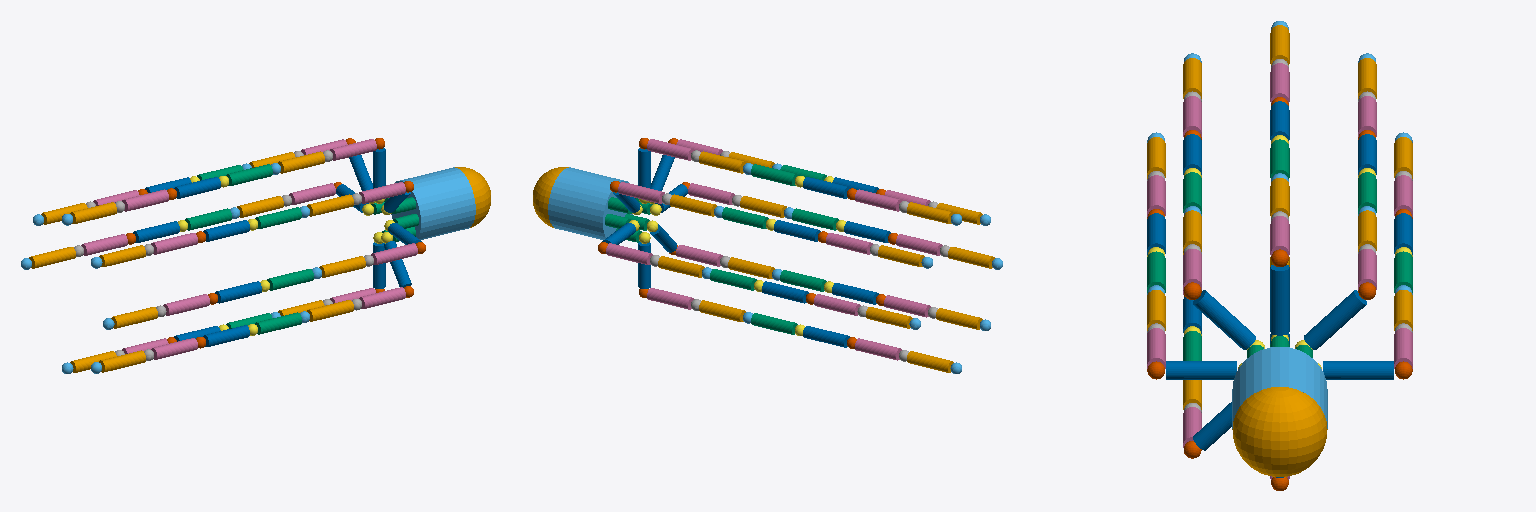
--- Render facts (derived) ---
3 views of the same robot in one strip: view 1: azimuth 30°, elevation 25°; view 2: azimuth 150°, elevation 25°; view 3: azimuth 270°, elevation 25° (orthographic).
Robot: sentinel/octopus_7_arms — 114 links, 113 joints (42 revolute, 71 fixed); root link eye; default pose: all joints at 0.
Links seen in each view (by area): view 1: head, eye, branch_06_cylinder, branch_32_cylinder, branch_03_cylinder, branch_22_cylinder, branch_25_cylinder, branch_35_cylinder, branch_43_cylinder, branch_44_cylinder, branch_53_cylinder, branch_56_cylinder (+20 smaller); view 2: head, eye, branch_12_cylinder, branch_46_cylinder, branch_55_cylinder, branch_03_cylinder, branch_04_cylinder, branch_15_cylinder, branch_22_cylinder, branch_25_cylinder, branch_43_cylinder, branch_42_cylinder (+26 smaller); view 3: eye, head, branch_20_cylinder, branch_10_cylinder, branch_30_cylinder, branch_00_cylinder, branch_40_cylinder, branch_50_cylinder, branch_25_cylinder, branch_21_cylinder, branch_26_cylinder, branch_23_cylinder (+28 smaller).
Link boxes in pixels (bbox=[...]): head: bbox=[391, 167, 475, 239]; eye: bbox=[455, 167, 490, 227]; branch_06_cylinder: bbox=[29, 247, 75, 268]; branch_32_cylinder: bbox=[307, 194, 353, 216]; branch_03_cylinder: bbox=[185, 208, 231, 230]; branch_22_cylinder: bbox=[278, 151, 324, 173]; branch_25_cylinder: bbox=[122, 189, 168, 211]; branch_35_cylinder: bbox=[151, 233, 197, 254]; branch_43_cylinder: bbox=[267, 269, 313, 290]; branch_44_cylinder: bbox=[215, 281, 261, 303]; branch_53_cylinder: bbox=[255, 312, 301, 334]; branch_56_cylinder: bbox=[99, 350, 145, 372]; head: bbox=[548, 167, 632, 239]; eye: bbox=[533, 167, 568, 227]; branch_12_cylinder: bbox=[670, 194, 716, 216]; branch_46_cylinder: bbox=[948, 247, 994, 268]; branch_55_cylinder: bbox=[884, 295, 930, 317]; branch_03_cylinder: bbox=[710, 269, 756, 290]; branch_04_cylinder: bbox=[762, 281, 808, 303]; branch_15_cylinder: bbox=[826, 233, 872, 254]; branch_22_cylinder: bbox=[699, 151, 745, 173]; branch_25_cylinder: bbox=[855, 189, 901, 211]; branch_43_cylinder: bbox=[792, 208, 838, 230]; branch_42_cylinder: bbox=[740, 196, 786, 217]; eye: bbox=[1232, 387, 1327, 476]; head: bbox=[1232, 347, 1327, 428]; branch_20_cylinder: bbox=[1270, 265, 1289, 335]; branch_10_cylinder: bbox=[1304, 290, 1366, 349]; branch_30_cylinder: bbox=[1193, 290, 1255, 349]; branch_00_cylinder: bbox=[1323, 361, 1393, 379]; branch_40_cylinder: bbox=[1166, 361, 1236, 379]; branch_50_cylinder: bbox=[1193, 402, 1231, 450]; branch_25_cylinder: bbox=[1270, 63, 1289, 102]; branch_21_cylinder: bbox=[1270, 216, 1289, 255]; branch_26_cylinder: bbox=[1270, 25, 1289, 64]; branch_23_cylinder: bbox=[1270, 139, 1289, 178].
Size in the robot's own frame: 1.55 by 0.56 by 0.5601 metres.
Geometry: primitives only (box / cylinder / sphere), no mesh files.

robot.urdf — sentinel/octopus_7_arms:
<?xml version="1.0"?>
<robot name="sentinel/octopus_7_arms">
<link name="eye">
  <inertial>
   <mass value="1"/>
   <inertia ixx="0.004000000000000001" ixy="0" ixz="0" iyy="0.004000000000000001" iyz="0" izz="0.004000000000000001"/>
  </inertial>
  <collision>
    <origin rpy="0 0 0" xyz="0 0 0"/>
    <geometry>
      <sphere radius="0.1"/>
    </geometry>
  </collision>
  <visual>
    <origin rpy="0 0 0" xyz="0 0 0"/>
    <geometry>
      <sphere radius="0.1"/>
    </geometry>
  </visual>
</link>

 <link name="head">
  <inertial>
    <mass value="1"/>
    <inertia ixx="0.0058333333333333345" ixy="0" ixz="0" iyy="0.0058333333333333345" iyz="0" izz="0.0025000000000000005"/>
  </inertial>
  <visual>
    <origin rpy="0 1.57 0" xyz="-0.1 0 0"/>
    <geometry>
      <cylinder length="0.2" radius="0.1"/>
    </geometry>
  </visual>
  <collision>
    <origin rpy="0 1.57 0" xyz="-0.1 0 0"/>
    <geometry>
      <cylinder length="0.2" radius="0.1"/>
    </geometry>
  </collision>
 </link>

<joint name="joint_fixed_eye_head" type="fixed">
  <origin rpy="0 0 0" xyz="0 0 0"/>
  <parent link="eye"/>
  <child link="head"/>
</joint>

<!--############################################################################
branch_00
##############################################################################-->
 <link name="branch_00_cylinder_stub">
  <inertial>
    <mass value="1"/>
    <inertia ixx="0.0005687499999999999" ixy="0" ixz="0" iyy="0.0005687499999999999" iyz="0" izz="0.0001"/>
  </inertial>
  <visual>
    <origin rpy="0 1.57 0" xyz="-0.0375 0 0"/>
    <geometry>
      <cylinder length="0.075" radius="0.02"/>
    </geometry>
  </visual>
  <collision>
    <origin rpy="0 1.57 0" xyz="-0.0375 0 0"/>
    <geometry>
      <cylinder length="0.075" radius="0.02"/>
    </geometry>
  </collision>
 </link>

<joint name="joint_fixed_head_branch_00_cylinder_stub" type="fixed">
  <origin rpy="0 0 0" xyz="-0.2 0.06999999999999999 0.0"/>
  <parent link="head"/>
  <child link="branch_00_cylinder_stub"/>
</joint>

<link name="branch_00_sphere_stub">
  <inertial>
   <mass value="1"/>
   <inertia ixx="0.00014439999999999999" ixy="0" ixz="0" iyy="0.00014439999999999999" iyz="0" izz="0.00014439999999999999"/>
  </inertial>
  <collision>
    <origin rpy="0 0 0" xyz="-0.095 0 0"/>
    <geometry>
      <sphere radius="0.019"/>
    </geometry>
  </collision>
  <visual>
    <origin rpy="0 0 0" xyz="-0.095 0 0"/>
    <geometry>
      <sphere radius="0.019"/>
    </geometry>
  </visual>
</link>

<joint name="joint_fixed_branch_00_cylinder_stub_branch_00_sphere_stub" type="fixed">
  <origin rpy="0 0 0" xyz="0 0 0"/>
  <parent link="branch_00_cylinder_stub"/>
  <child link="branch_00_sphere_stub"/>
</joint>

 <link name="branch_00_cylinder">
  <inertial>
    <mass value="1"/>
    <inertia ixx="0.0019749999999999998" ixy="0" ixz="0" iyy="0.0019749999999999998" iyz="0" izz="0.0001"/>
  </inertial>
  <visual>
    <origin rpy="0 1.5707963267948966 1.57" xyz="-0.095 0.095 0.0"/>
    <geometry>
      <cylinder length="0.15" radius="0.02"/>
    </geometry>
  </visual>
  <collision>
    <origin rpy="0 1.5707963267948966 1.57" xyz="-0.095 0.095 0.0"/>
    <geometry>
      <cylinder length="0.15" radius="0.02"/>
    </geometry>
  </collision>
 </link>

<joint name="joint_fixed_branch_00_sphere_stub_branch_00_cylinder" type="fixed">
  <origin rpy="0 0 0" xyz="0 0 0"/>
  <parent link="branch_00_sphere_stub"/>
  <child link="branch_00_cylinder"/>
</joint>

<link name="branch_00">
  <inertial>
   <mass value="1"/>
   <inertia ixx="0.00014439999999999999" ixy="0" ixz="0" iyy="0.00014439999999999999" iyz="0" izz="0.00014439999999999999"/>
  </inertial>
  <collision>
    <origin rpy="0 0 0" xyz="0 0 0"/>
    <geometry>
      <sphere radius="0.019"/>
    </geometry>
  </collision>
  <visual>
    <origin rpy="0 0 0" xyz="0 0 0"/>
    <geometry>
      <sphere radius="0.019"/>
    </geometry>
  </visual>
</link>

<joint name="joint_fixed_branch_00_cylinder_branch_00" type="fixed">
  <origin rpy="0 0 0" xyz="-0.095 0.19 0.0"/>
  <parent link="branch_00_cylinder"/>
  <child link="branch_00"/>
</joint>

<!--############################################################################
branch_01
##############################################################################-->
 <link name="branch_01_cylinder">
  <inertial>
    <mass value="1"/>
    <inertia ixx="0.0019749999999999998" ixy="0" ixz="0" iyy="0.0019749999999999998" iyz="0" izz="0.0001"/>
  </inertial>
  <visual>
    <origin rpy="0 1.57 0" xyz="-0.095 0 0"/>
    <geometry>
      <cylinder length="0.15" radius="0.02"/>
    </geometry>
  </visual>
  <collision>
    <origin rpy="0 1.57 0" xyz="-0.095 0 0"/>
    <geometry>
      <cylinder length="0.15" radius="0.02"/>
    </geometry>
  </collision>
 </link>

<joint name="joint_revolute_branch_00_branch_01_cylinder_Z" type="revolute">
  <origin rpy="0 0 0" xyz="0 0 0"/>
  <parent link="branch_00"/>
  <child link="branch_01_cylinder"/>
  <axis xyz="0 0.0 -1.0"/>
  <dynamics damping="0.01" friction="0.5"/>
  <limit lower="-1.5707963267948966" upper="1.5707963267948966" effort="0.01" velocity="100"/>
</joint>

<link name="branch_01">
  <inertial>
   <mass value="1"/>
   <inertia ixx="0.00014439999999999999" ixy="0" ixz="0" iyy="0.00014439999999999999" iyz="0" izz="0.00014439999999999999"/>
  </inertial>
  <collision>
    <origin rpy="0 0 0" xyz="0 0 0"/>
    <geometry>
      <sphere radius="0.019"/>
    </geometry>
  </collision>
  <visual>
    <origin rpy="0 0 0" xyz="0 0 0"/>
    <geometry>
      <sphere radius="0.019"/>
    </geometry>
  </visual>
</link>

<joint name="joint_fixed_branch_01_cylinder_branch_01" type="fixed">
  <origin rpy="0 0 0" xyz="-0.19 0 0"/>
  <parent link="branch_01_cylinder"/>
  <child link="branch_01"/>
</joint>

<!--############################################################################
branch_02
##############################################################################-->
 <link name="branch_02_cylinder">
  <inertial>
    <mass value="1"/>
    <inertia ixx="0.0019749999999999998" ixy="0" ixz="0" iyy="0.0019749999999999998" iyz="0" izz="0.0001"/>
  </inertial>
  <visual>
    <origin rpy="0 1.57 0" xyz="-0.095 0 0"/>
    <geometry>
      <cylinder length="0.15" radius="0.02"/>
    </geometry>
  </visual>
  <collision>
    <origin rpy="0 1.57 0" xyz="-0.095 0 0"/>
    <geometry>
      <cylinder length="0.15" radius="0.02"/>
    </geometry>
  </collision>
 </link>

<joint name="joint_revolute_branch_01_branch_02_cylinder_Z" type="revolute">
  <origin rpy="0 0 0" xyz="0 0 0"/>
  <parent link="branch_01"/>
  <child link="branch_02_cylinder"/>
  <axis xyz="0 0.0 -1.0"/>
  <dynamics damping="0.01" friction="0.5"/>
  <limit lower="-1.5707963267948966" upper="1.5707963267948966" effort="0.01" velocity="100"/>
</joint>

<link name="branch_02">
  <inertial>
   <mass value="1"/>
   <inertia ixx="0.00014439999999999999" ixy="0" ixz="0" iyy="0.00014439999999999999" iyz="0" izz="0.00014439999999999999"/>
  </inertial>
  <collision>
    <origin rpy="0 0 0" xyz="0 0 0"/>
    <geometry>
      <sphere radius="0.019"/>
    </geometry>
  </collision>
  <visual>
    <origin rpy="0 0 0" xyz="0 0 0"/>
    <geometry>
      <sphere radius="0.019"/>
    </geometry>
  </visual>
</link>

<joint name="joint_fixed_branch_02_cylinder_branch_02" type="fixed">
  <origin rpy="0 0 0" xyz="-0.19 0 0"/>
  <parent link="branch_02_cylinder"/>
  <child link="branch_02"/>
</joint>

<!--############################################################################
branch_03
##############################################################################-->
 <link name="branch_03_cylinder">
  <inertial>
    <mass value="1"/>
    <inertia ixx="0.0019749999999999998" ixy="0" ixz="0" iyy="0.0019749999999999998" iyz="0" izz="0.0001"/>
  </inertial>
  <visual>
    <origin rpy="0 1.57 0" xyz="-0.095 0 0"/>
    <geometry>
      <cylinder length="0.15" radius="0.02"/>
    </geometry>
  </visual>
  <collision>
    <origin rpy="0 1.57 0" xyz="-0.095 0 0"/>
    <geometry>
      <cylinder length="0.15" radius="0.02"/>
    </geometry>
  </collision>
 </link>

<joint name="joint_revolute_branch_02_branch_03_cylinder_Z" type="revolute">
  <origin rpy="0 0 0" xyz="0 0 0"/>
  <parent link="branch_02"/>
  <child link="branch_03_cylinder"/>
  <axis xyz="0 0.0 -1.0"/>
  <dynamics damping="0.01" friction="0.5"/>
  <limit lower="-1.5707963267948966" upper="1.5707963267948966" effort="0.01" velocity="100"/>
</joint>

<link name="branch_03">
  <inertial>
   <mass value="1"/>
   <inertia ixx="0.00014439999999999999" ixy="0" ixz="0" iyy="0.00014439999999999999" iyz="0" izz="0.00014439999999999999"/>
  </inertial>
  <collision>
    <origin rpy="0 0 0" xyz="0 0 0"/>
    <geometry>
      <sphere radius="0.019"/>
    </geometry>
  </collision>
  <visual>
    <origin rpy="0 0 0" xyz="0 0 0"/>
    <geometry>
      <sphere radius="0.019"/>
    </geometry>
  </visual>
</link>

<joint name="joint_fixed_branch_03_cylinder_branch_03" type="fixed">
  <origin rpy="0 0 0" xyz="-0.19 0 0"/>
  <parent link="branch_03_cylinder"/>
  <child link="branch_03"/>
</joint>

<!--############################################################################
branch_04
##############################################################################-->
 <link name="branch_04_cylinder">
  <inertial>
    <mass value="1"/>
    <inertia ixx="0.0019749999999999998" ixy="0" ixz="0" iyy="0.0019749999999999998" iyz="0" izz="0.0001"/>
  </inertial>
  <visual>
    <origin rpy="0 1.57 0" xyz="-0.095 0 0"/>
    <geometry>
      <cylinder length="0.15" radius="0.02"/>
    </geometry>
  </visual>
  <collision>
    <origin rpy="0 1.57 0" xyz="-0.095 0 0"/>
    <geometry>
      <cylinder length="0.15" radius="0.02"/>
    </geometry>
  </collision>
 </link>

<joint name="joint_revolute_branch_03_branch_04_cylinder_Z" type="revolute">
  <origin rpy="0 0 0" xyz="0 0 0"/>
  <parent link="branch_03"/>
  <child link="branch_04_cylinder"/>
  <axis xyz="0 0.0 -1.0"/>
  <dynamics damping="0.01" friction="0.5"/>
  <limit lower="-1.5707963267948966" upper="1.5707963267948966" effort="0.01" velocity="100"/>
</joint>

<link name="branch_04">
  <inertial>
   <mass value="1"/>
   <inertia ixx="0.00014439999999999999" ixy="0" ixz="0" iyy="0.00014439999999999999" iyz="0" izz="0.00014439999999999999"/>
  </inertial>
  <collision>
    <origin rpy="0 0 0" xyz="0 0 0"/>
    <geometry>
      <sphere radius="0.019"/>
    </geometry>
  </collision>
  <visual>
    <origin rpy="0 0 0" xyz="0 0 0"/>
    <geometry>
      <sphere radius="0.019"/>
    </geometry>
  </visual>
</link>

<joint name="joint_fixed_branch_04_cylinder_branch_04" type="fixed">
  <origin rpy="0 0 0" xyz="-0.19 0 0"/>
  <parent link="branch_04_cylinder"/>
  <child link="branch_04"/>
</joint>

<!--############################################################################
branch_05
##############################################################################-->
 <link name="branch_05_cylinder">
  <inertial>
    <mass value="1"/>
    <inertia ixx="0.0019749999999999998" ixy="0" ixz="0" iyy="0.0019749999999999998" iyz="0" izz="0.0001"/>
  </inertial>
  <visual>
    <origin rpy="0 1.57 0" xyz="-0.095 0 0"/>
    <geometry>
      <cylinder length="0.15" radius="0.02"/>
    </geometry>
  </visual>
  <collision>
    <origin rpy="0 1.57 0" xyz="-0.095 0 0"/>
    <geometry>
      <cylinder length="0.15" radius="0.02"/>
    </geometry>
  </collision>
 </link>

<joint name="joint_revolute_branch_04_branch_05_cylinder_Z" type="revolute">
  <origin rpy="0 0 0" xyz="0 0 0"/>
  <parent link="branch_04"/>
  <child link="branch_05_cylinder"/>
  <axis xyz="0 0.0 -1.0"/>
  <dynamics damping="0.01" friction="0.5"/>
  <limit lower="-1.5707963267948966" upper="1.5707963267948966" effort="0.01" velocity="100"/>
</joint>

<link name="branch_05">
  <inertial>
   <mass value="1"/>
   <inertia ixx="0.00014439999999999999" ixy="0" ixz="0" iyy="0.00014439999999999999" iyz="0" izz="0.00014439999999999999"/>
  </inertial>
  <collision>
    <origin rpy="0 0 0" xyz="0 0 0"/>
    <geometry>
      <sphere radius="0.019"/>
    </geometry>
  </collision>
  <visual>
    <origin rpy="0 0 0" xyz="0 0 0"/>
    <geometry>
      <sphere radius="0.019"/>
    </geometry>
  </visual>
</link>

<joint name="joint_fixed_branch_05_cylinder_branch_05" type="fixed">
  <origin rpy="0 0 0" xyz="-0.19 0 0"/>
  <parent link="branch_05_cylinder"/>
  <child link="branch_05"/>
</joint>

<!--############################################################################
branch_06
##############################################################################-->
 <link name="branch_06_cylinder">
  <inertial>
    <mass value="1"/>
    <inertia ixx="0.0019749999999999998" ixy="0" ixz="0" iyy="0.0019749999999999998" iyz="0" izz="0.0001"/>
  </inertial>
  <visual>
    <origin rpy="0 1.57 0" xyz="-0.095 0 0"/>
    <geometry>
      <cylinder length="0.15" radius="0.02"/>
    </geometry>
  </visual>
  <collision>
    <origin rpy="0 1.57 0" xyz="-0.095 0 0"/>
    <geometry>
      <cylinder length="0.15" radius="0.02"/>
    </geometry>
  </collision>
 </link>

<joint name="joint_revolute_branch_05_branch_06_cylinder_Z" type="revolute">
  <origin rpy="0 0 0" xyz="0 0 0"/>
  <parent link="branch_05"/>
  <child link="branch_06_cylinder"/>
  <axis xyz="0 0.0 -1.0"/>
  <dynamics damping="0.01" friction="0.5"/>
  <limit lower="-1.5707963267948966" upper="1.5707963267948966" effort="0.01" velocity="100"/>
</joint>

<link name="branch_06">
  <inertial>
   <mass value="1"/>
   <inertia ixx="0.00014439999999999999" ixy="0" ixz="0" iyy="0.00014439999999999999" iyz="0" izz="0.00014439999999999999"/>
  </inertial>
  <collision>
    <origin rpy="0 0 0" xyz="0 0 0"/>
    <geometry>
      <sphere radius="0.019"/>
    </geometry>
  </collision>
  <visual>
    <origin rpy="0 0 0" xyz="0 0 0"/>
    <geometry>
      <sphere radius="0.019"/>
    </geometry>
  </visual>
</link>

<joint name="joint_fixed_branch_06_cylinder_branch_06" type="fixed">
  <origin rpy="0 0 0" xyz="-0.19 0 0"/>
  <parent link="branch_06_cylinder"/>
  <child link="branch_06"/>
</joint>

<!--############################################################################
branch_10
##############################################################################-->
 <link name="branch_10_cylinder_stub">
  <inertial>
    <mass value="1"/>
    <inertia ixx="0.0005687499999999999" ixy="0" ixz="0" iyy="0.0005687499999999999" iyz="0" izz="0.0001"/>
  </inertial>
  <visual>
    <origin rpy="0 1.57 0" xyz="-0.0375 0 0"/>
    <geometry>
      <cylinder length="0.075" radius="0.02"/>
    </geometry>
  </visual>
  <collision>
    <origin rpy="0 1.57 0" xyz="-0.0375 0 0"/>
    <geometry>
      <cylinder length="0.075" radius="0.02"/>
    </geometry>
  </collision>
 </link>

<joint name="joint_fixed_head_branch_10_cylinder_stub" type="fixed">
  <origin rpy="0 0 0" xyz="-0.2 0.049497474683058325 0.04949747468305832"/>
  <parent link="head"/>
  <child link="branch_10_cylinder_stub"/>
</joint>

<link name="branch_10_sphere_stub">
  <inertial>
   <mass value="1"/>
   <inertia ixx="0.00014439999999999999" ixy="0" ixz="0" iyy="0.00014439999999999999" iyz="0" izz="0.00014439999999999999"/>
  </inertial>
  <collision>
    <origin rpy="0 0 0" xyz="-0.095 0 0"/>
    <geometry>
      <sphere radius="0.019"/>
    </geometry>
  </collision>
  <visual>
    <origin rpy="0 0 0" xyz="-0.095 0 0"/>
    <geometry>
      <sphere radius="0.019"/>
    </geometry>
  </visual>
</link>

<joint name="joint_fixed_branch_10_cylinder_stub_branch_10_sphere_stub" type="fixed">
  <origin rpy="0 0 0" xyz="0 0 0"/>
  <parent link="branch_10_cylinder_stub"/>
  <child link="branch_10_sphere_stub"/>
</joint>

 <link name="branch_10_cylinder">
  <inertial>
    <mass value="1"/>
    <inertia ixx="0.0019749999999999998" ixy="0" ixz="0" iyy="0.0019749999999999998" iyz="0" izz="0.0001"/>
  </inertial>
  <visual>
    <origin rpy="0 0.7853981633974484 1.57" xyz="-0.095 0.06717514421272201 0.06717514421272201"/>
    <geometry>
      <cylinder length="0.15" radius="0.02"/>
    </geometry>
  </visual>
  <collision>
    <origin rpy="0 0.7853981633974484 1.57" xyz="-0.095 0.06717514421272201 0.06717514421272201"/>
    <geometry>
      <cylinder length="0.15" radius="0.02"/>
    </geometry>
  </collision>
 </link>

<joint name="joint_fixed_branch_10_sphere_stub_branch_10_cylinder" type="fixed">
  <origin rpy="0 0 0" xyz="0 0 0"/>
  <parent link="branch_10_sphere_stub"/>
  <child link="branch_10_cylinder"/>
</joint>

<link name="branch_10">
  <inertial>
   <mass value="1"/>
   <inertia ixx="0.00014439999999999999" ixy="0" ixz="0" iyy="0.00014439999999999999" iyz="0" izz="0.00014439999999999999"/>
  </inertial>
  <collision>
    <origin rpy="0 0 0" xyz="0 0 0"/>
    <geometry>
      <sphere radius="0.019"/>
    </geometry>
  </collision>
  <visual>
    <origin rpy="0 0 0" xyz="0 0 0"/>
    <geometry>
      <sphere radius="0.019"/>
    </geometry>
  </visual>
</link>

<joint name="joint_fixed_branch_10_cylinder_branch_10" type="fixed">
  <origin rpy="0 0 0" xyz="-0.095 0.13435028842544403 0.13435028842544403"/>
  <parent link="branch_10_cylinder"/>
  <child link="branch_10"/>
</joint>

<!--############################################################################
branch_11
##############################################################################-->
 <link name="branch_11_cylinder">
  <inertial>
    <mass value="1"/>
    <inertia ixx="0.0019749999999999998" ixy="0" ixz="0" iyy="0.0019749999999999998" iyz="0" izz="0.0001"/>
  </inertial>
  <visual>
    <origin rpy="0 1.57 0" xyz="-0.095 0 0"/>
    <geometry>
      <cylinder length="0.15" radius="0.02"/>
    </geometry>
  </visual>
  <collision>
    <origin rpy="0 1.57 0" xyz="-0.095 0 0"/>
    <geometry>
      <cylinder length="0.15" radius="0.02"/>
    </geometry>
  </collision>
 </link>

<joint name="joint_revolute_branch_10_branch_11_cylinder_Z" type="revolute">
  <origin rpy="0 0 0" xyz="0 0 0"/>
  <parent link="branch_10"/>
  <child link="branch_11_cylinder"/>
  <axis xyz="0 0.7071067811865475 -0.7071067811865476"/>
  <dynamics damping="0.01" friction="0.5"/>
  <limit lower="-1.5707963267948966" upper="1.5707963267948966" effort="0.01" velocity="100"/>
</joint>

<link name="branch_11">
  <inertial>
   <mass value="1"/>
   <inertia ixx="0.00014439999999999999" ixy="0" ixz="0" iyy="0.00014439999999999999" iyz="0" izz="0.00014439999999999999"/>
  </inertial>
  <collision>
    <origin rpy="0 0 0" xyz="0 0 0"/>
    <geometry>
      <sphere radius="0.019"/>
    </geometry>
  </collision>
  <visual>
    <origin rpy="0 0 0" xyz="0 0 0"/>
    <geometry>
      <sphere radius="0.019"/>
    </geometry>
  </visual>
</link>

<joint name="joint_fixed_branch_11_cylinder_branch_11" type="fixed">
  <origin rpy="0 0 0" xyz="-0.19 0 0"/>
  <parent link="branch_11_cylinder"/>
  <child link="branch_11"/>
</joint>

<!--############################################################################
branch_12
##############################################################################-->
 <link name="branch_12_cylinder">
  <inertial>
    <mass value="1"/>
    <inertia ixx="0.0019749999999999998" ixy="0" ixz="0" iyy="0.0019749999999999998" iyz="0" izz="0.0001"/>
  </inertial>
  <visual>
    <origin rpy="0 1.57 0" xyz="-0.095 0 0"/>
    <geometry>
      <cylinder length="0.15" radius="0.02"/>
    </geometry>
  </visual>
  <collision>
    <origin rpy="0 1.57 0" xyz="-0.095 0 0"/>
    <geometry>
      <cylinder length="0.15" radius="0.02"/>
    </geometry>
  </collision>
 </link>

<joint name="joint_revolute_branch_11_branch_12_cylinder_Z" type="revolute">
  <origin rpy="0 0 0" xyz="0 0 0"/>
  <parent link="branch_11"/>
  <child link="branch_12_cylinder"/>
  <axis xyz="0 0.7071067811865475 -0.7071067811865476"/>
  <dynamics damping="0.01" friction="0.5"/>
  <limit lower="-1.5707963267948966" upper="1.5707963267948966" effort="0.01" velocity="100"/>
</joint>

<link name="branch_12">
  <inertial>
   <mass value="1"/>
   <inertia ixx="0.00014439999999999999" ixy="0" ixz="0" iyy="0.00014439999999999999" iyz="0" izz="0.00014439999999999999"/>
  </inertial>
  <collision>
    <origin rpy="0 0 0" xyz="0 0 0"/>
    <geometry>
      <sphere radius="0.019"/>
    </geometry>
  </collision>
  <visual>
    <origin rpy="0 0 0" xyz="0 0 0"/>
    <geometry>
      <sphere radius="0.019"/>
    </geometry>
  </visual>
</link>

<joint name="joint_fixed_branch_12_cylinder_branch_12" type="fixed">
  <origin rpy="0 0 0" xyz="-0.19 0 0"/>
  <parent link="branch_12_cylinder"/>
  <child link="branch_12"/>
</joint>

<!--############################################################################
branch_13
##############################################################################-->
 <link name="branch_13_cylinder">
  <inertial>
    <mass value="1"/>
    <inertia ixx="0.0019749999999999998" ixy="0" ixz="0" iyy="0.0019749999999999998" iyz="0" izz="0.0001"/>
  </inertial>
  <visual>
    <origin rpy="0 1.57 0" xyz="-0.095 0 0"/>
    <geometry>
      <cylinder length="0.15" radius="0.02"/>
    </geometry>
  </visual>
  <collision>
    <origin rpy="0 1.57 0" xyz="-0.095 0 0"/>
    <geometry>
      <cylinder length="0.15" radius="0.02"/>
    </geometry>
  </collision>
 </link>

<joint name="joint_revolute_branch_12_branch_13_cylinder_Z" type="revolute">
  <origin rpy="0 0 0" xyz="0 0 0"/>
  <parent link="branch_12"/>
  <child link="branch_13_cylinder"/>
  <axis xyz="0 0.7071067811865475 -0.7071067811865476"/>
  <dynamics damping="0.01" friction="0.5"/>
  <limit lower="-1.5707963267948966" upper="1.5707963267948966" effort="0.01" velocity="100"/>
</joint>

<link name="branch_13">
  <inertial>
   <mass value="1"/>
   <inertia ixx="0.00014439999999999999" ixy="0" ixz="0" iyy="0.00014439999999999999" iyz="0" izz="0.00014439999999999999"/>
  </inertial>
  <collision>
    <origin rpy="0 0 0" xyz="0 0 0"/>
    <geometry>
      <sphere radius="0.019"/>
    </geometry>
  </collision>
  <visual>
    <origin rpy="0 0 0" xyz="0 0 0"/>
    <geometry>
      <sphere radius="0.019"/>
    </geometry>
  </visual>
</link>

<joint name="joint_fixed_branch_13_cylinder_branch_13" type="fixed">
  <origin rpy="0 0 0" xyz="-0.19 0 0"/>
  <parent link="branch_13_cylinder"/>
  <child link="branch_13"/>
</joint>

<!--############################################################################
branch_14
##############################################################################-->
 <link name="branch_14_cylinder">
  <inertial>
    <mass value="1"/>
    <inertia ixx="0.0019749999999999998" ixy="0" ixz="0" iyy="0.0019749999999999998" iyz="0" izz="0.0001"/>
  </inertial>
  <visual>
    <origin rpy="0 1.57 0" xyz="-0.095 0 0"/>
    <geometry>
      <cylinder length="0.15" radius="0.02"/>
    </geometry>
  </visual>
  <collision>
    <origin rpy="0 1.57 0" xyz="-0.095 0 0"/>
    <geometry>
      <cylinder length="0.15" radius="0.02"/>
    </geometry>
  </collision>
 </link>

<joint name="joint_revolute_branch_13_branch_14_cylinder_Z" type="revolute">
  <origin rpy="0 0 0" xyz="0 0 0"/>
  <parent link="branch_13"/>
  <child link="branch_14_cylinder"/>
  <axis xyz="0 0.7071067811865475 -0.7071067811865476"/>
  <dynamics damping="0.01" friction="0.5"/>
  <limit lower="-1.5707963267948966" upper="1.5707963267948966" effort="0.01" velocity="100"/>
</joint>

<link name="branch_14">
  <inertial>
   <mass value="1"/>
   <inertia ixx="0.00014439999999999999" ixy="0" ixz="0" iyy="0.00014439999999999999" iyz="0" izz="0.00014439999999999999"/>
  </inertial>
  <collision>
    <origin rpy="0 0 0" xyz="0 0 0"/>
    <geometry>
      <sphere radius="0.019"/>
    </geometry>
  </collision>
  <visual>
    <origin rpy="0 0 0" xyz="0 0 0"/>
    <geometry>
      <sphere radius="0.019"/>
    </geometry>
  </visual>
</link>

<joint name="joint_fixed_branch_14_cylinder_branch_14" type="fixed">
  <origin rpy="0 0 0" xyz="-0.19 0 0"/>
  <parent link="branch_14_cylinder"/>
  <child link="branch_14"/>
</joint>

<!--############################################################################
branch_15
##############################################################################-->
 <link name="branch_15_cylinder">
  <inertial>
    <mass value="1"/>
    <inertia ixx="0.0019749999999999998" ixy="0" ixz="0" iyy="0.0019749999999999998" iyz="0" izz="0.0001"/>
  </inertial>
  <visual>
    <origin rpy="0 1.57 0" xyz="-0.095 0 0"/>
    <geometry>
      <cylinder length="0.15" radius="0.02"/>
    </geometry>
  </visual>
  <collision>
    <origin rpy="0 1.57 0" xyz="-0.095 0 0"/>
    <geometry>
      <cylinder length="0.15" radius="0.02"/>
    </geometry>
  </collision>
 </link>

<joint name="joint_revolute_branch_14_branch_15_cylinder_Z" type="revolute">
  <origin rpy="0 0 0" xyz="0 0 0"/>
  <parent link="branch_14"/>
  <child link="branch_15_cylinder"/>
  <axis xyz="0 0.7071067811865475 -0.7071067811865476"/>
  <dynamics damping="0.01" friction="0.5"/>
  <limit lower="-1.5707963267948966" upper="1.5707963267948966" effort="0.01" velocity="100"/>
</joint>

<link name="branch_15">
  <inertial>
   <mass value="1"/>
   <inertia ixx="0.00014439999999999999" ixy="0" ixz="0" iyy="0.00014439999999999999" iyz="0" izz="0.00014439999999999999"/>
  </inertial>
  <collision>
    <origin rpy="0 0 0" xyz="0 0 0"/>
    <geometry>
      <sphere radius="0.019"/>
    </geometry>
  </collision>
  <visual>
    <origin rpy="0 0 0" xyz="0 0 0"/>
    <geometry>
      <sphere radius="0.019"/>
    </geometry>
  </visual>
</link>

<joint name="joint_fixed_branch_15_cylinder_branch_15" type="fixed">
  <origin rpy="0 0 0" xyz="-0.19 0 0"/>
  <parent link="branch_15_cylinder"/>
  <child link="branch_15"/>
</joint>

<!--############################################################################
branch_16
##############################################################################-->
 <link name="branch_16_cylinder">
  <inertial>
    <mass value="1"/>
    <inertia ixx="0.0019749999999999998" ixy="0" ixz="0" iyy="0.0019749999999999998" iyz="0" izz="0.0001"/>
  </inertial>
  <visual>
    <origin rpy="0 1.57 0" xyz="-0.095 0 0"/>
    <geometry>
      <cylinder length="0.15" radius="0.02"/>
    </geometry>
  </visual>
  <collision>
    <origin rpy="0 1.57 0" xyz="-0.095 0 0"/>
    <geometry>
      <cylinder length="0.15" radius="0.02"/>
    </geometry>
  </collision>
 </link>

<joint name="joint_revolute_branch_15_branch_16_cylinder_Z" type="revolute">
  <origin rpy="0 0 0" xyz="0 0 0"/>
  <parent link="branch_15"/>
  <child link="branch_16_cylinder"/>
  <axis xyz="0 0.7071067811865475 -0.7071067811865476"/>
  <dynamics damping="0.01" friction="0.5"/>
  <limit lower="-1.5707963267948966" upper="1.5707963267948966" effort="0.01" velocity="100"/>
</joint>

<link name="branch_16">
  <inertial>
   <mass value="1"/>
   <inertia ixx="0.00014439999999999999" ixy="0" ixz="0" iyy="0.00014439999999999999" iyz="0" izz="0.00014439999999999999"/>
  </inertial>
  <collision>
    <origin rpy="0 0 0" xyz="0 0 0"/>
    <geometry>
      <sphere radius="0.019"/>
    </geometry>
  </collision>
  <visual>
    <origin rpy="0 0 0" xyz="0 0 0"/>
    <geometry>
      <sphere radius="0.019"/>
    </geometry>
  </visual>
</link>

<joint name="joint_fixed_branch_16_cylinder_branch_16" type="fixed">
  <origin rpy="0 0 0" xyz="-0.19 0 0"/>
  <parent link="branch_16_cylinder"/>
  <child link="branch_16"/>
</joint>

<!--############################################################################
branch_20
##############################################################################-->
 <link name="branch_20_cylinder_stub">
  <inertial>
    <mass value="1"/>
    <inertia ixx="0.0005687499999999999" ixy="0" ixz="0" iyy="0.0005687499999999999" iyz="0" izz="0.0001"/>
  </inertial>
  <visual>
    <origin rpy="0 1.57 0" xyz="-0.0375 0 0"/>
    <geometry>
      <cylinder length="0.075" radius="0.02"/>
    </geometry>
  </visual>
  <collision>
    <origin rpy="0 1.57 0" xyz="-0.0375 0 0"/>
    <geometry>
      <cylinder length="0.075" radius="0.02"/>
    </geometry>
  </collision>
 </link>

<joint name="joint_fixed_head_branch_20_cylinder_stub" type="fixed">
  <origin rpy="0 0 0" xyz="-0.2 4.286263797015736e-18 0.06999999999999999"/>
  <parent link="head"/>
  <child link="branch_20_cylinder_stub"/>
</joint>

<link name="branch_20_sphere_stub">
  <inertial>
   <mass value="1"/>
   <inertia ixx="0.00014439999999999999" ixy="0" ixz="0" iyy="0.00014439999999999999" iyz="0" izz="0.00014439999999999999"/>
  </inertial>
  <collision>
    <origin rpy="0 0 0" xyz="-0.095 0 0"/>
    <geometry>
      <sphere radius="0.019"/>
    </geometry>
  </collision>
  <visual>
    <origin rpy="0 0 0" xyz="-0.095 0 0"/>
    <geometry>
      <sphere radius="0.019"/>
    </geometry>
  </visual>
</link>

<joint name="joint_fixed_branch_20_cylinder_stub_branch_20_sphere_stub" type="fixed">
  <origin rpy="0 0 0" xyz="0 0 0"/>
  <parent link="branch_20_cylinder_stub"/>
  <child link="branch_20_sphere_stub"/>
</joint>

 <link name="branch_20_cylinder">
  <inertial>
    <mass value="1"/>
    <inertia ixx="0.0019749999999999998" ixy="0" ixz="0" iyy="0.0019749999999999998" iyz="0" izz="0.0001"/>
  </inertial>
  <visual>
    <origin rpy="0 6.123233995736766e-17 1.57" xyz="-0.095 5.817072295949928e-18 0.095"/>
    <geometry>
      <cylinder length="0.15" radius="0.02"/>
    </geometry>
  </visual>
  <collision>
    <origin rpy="0 6.123233995736766e-17 1.57" xyz="-0.095 5.817072295949928e-18 0.095"/>
    <geometry>
      <cylinder length="0.15" radius="0.02"/>
    </geometry>
  </collision>
 </link>

<joint name="joint_fixed_branch_20_sphere_stub_branch_20_cylinder" type="fixed">
  <origin rpy="0 0 0" xyz="0 0 0"/>
  <parent link="branch_20_sphere_stub"/>
  <child link="branch_20_cylinder"/>
</joint>

<link name="branch_20">
  <inertial>
   <mass value="1"/>
   <inertia ixx="0.00014439999999999999" ixy="0" ixz="0" iyy="0.00014439999999999999" iyz="0" izz="0.00014439999999999999"/>
  </inertial>
  <collision>
    <origin rpy="0 0 0" xyz="0 0 0"/>
    <geometry>
      <sphere radius="0.019"/>
    </geometry>
  </collision>
  <visual>
    <origin rpy="0 0 0" xyz="0 0 0"/>
    <geometry>
      <sphere radius="0.019"/>
    </geometry>
  </visual>
</link>

<joint name="joint_fixed_branch_20_cylinder_branch_20" type="fixed">
  <origin rpy="0 0 0" xyz="-0.095 1.1634144591899856e-17 0.19"/>
  <parent link="branch_20_cylinder"/>
  <child link="branch_20"/>
</joint>

<!--############################################################################
branch_21
##############################################################################-->
 <link name="branch_21_cylinder">
  <inertial>
    <mass value="1"/>
    <inertia ixx="0.0019749999999999998" ixy="0" ixz="0" iyy="0.0019749999999999998" iyz="0" izz="0.0001"/>
  </inertial>
  <visual>
    <origin rpy="0 1.57 0" xyz="-0.095 0 0"/>
    <geometry>
      <cylinder length="0.15" radius="0.02"/>
    </geometry>
  </visual>
  <collision>
    <origin rpy="0 1.57 0" xyz="-0.095 0 0"/>
    <geometry>
      <cylinder length="0.15" radius="0.02"/>
    </geometry>
  </collision>
 </link>

<joint name="joint_revolute_branch_20_branch_21_cylinder_Z" type="revolute">
  <origin rpy="0 0 0" xyz="0 0 0"/>
  <parent link="branch_20"/>
  <child link="branch_21_cylinder"/>
  <axis xyz="0 1.0 -6.123233995736766e-17"/>
  <dynamics damping="0.01" friction="0.5"/>
  <limit lower="-1.5707963267948966" upper="1.5707963267948966" effort="0.01" velocity="100"/>
</joint>

<link name="branch_21">
  <inertial>
   <mass value="1"/>
   <inertia ixx="0.00014439999999999999" ixy="0" ixz="0" iyy="0.00014439999999999999" iyz="0" izz="0.00014439999999999999"/>
  </inertial>
  <collision>
    <origin rpy="0 0 0" xyz="0 0 0"/>
    <geometry>
      <sphere radius="0.019"/>
    </geometry>
  </collision>
  <visual>
    <origin rpy="0 0 0" xyz="0 0 0"/>
    <geometry>
      <sphere radius="0.019"/>
    </geometry>
  </visual>
</link>

<joint name="joint_fixed_branch_21_cylinder_branch_21" type="fixed">
  <origin rpy="0 0 0" xyz="-0.19 0 0"/>
  <parent link="branch_21_cylinder"/>
  <child link="branch_21"/>
</joint>

<!--############################################################################
branch_22
##############################################################################-->
 <link name="branch_22_cylinder">
  <inertial>
    <mass value="1"/>
    <inertia ixx="0.0019749999999999998" ixy="0" ixz="0" iyy="0.0019749999999999998" iyz="0" izz="0.0001"/>
  </inertial>
  <visual>
    <origin rpy="0 1.57 0" xyz="-0.095 0 0"/>
    <geometry>
      <cylinder length="0.15" radius="0.02"/>
    </geometry>
  </visual>
  <collision>
    <origin rpy="0 1.57 0" xyz="-0.095 0 0"/>
    <geometry>
      <cylinder length="0.15" radius="0.02"/>
    </geometry>
  </collision>
 </link>

<joint name="joint_revolute_branch_21_branch_22_cylinder_Z" type="revolute">
  <origin rpy="0 0 0" xyz="0 0 0"/>
  <parent link="branch_21"/>
  <child link="branch_22_cylinder"/>
  <axis xyz="0 1.0 -6.123233995736766e-17"/>
  <dynamics damping="0.01" friction="0.5"/>
  <limit lower="-1.5707963267948966" upper="1.5707963267948966" effort="0.01" velocity="100"/>
</joint>

<link name="branch_22">
  <inertial>
   <mass value="1"/>
   <inertia ixx="0.00014439999999999999" ixy="0" ixz="0" iyy="0.00014439999999999999" iyz="0" izz="0.00014439999999999999"/>
  </inertial>
  <collision>
    <origin rpy="0 0 0" xyz="0 0 0"/>
    <geometry>
      <sphere radius="0.019"/>
    </geometry>
  </collision>
  <visual>
    <origin rpy="0 0 0" xyz="0 0 0"/>
    <geometry>
      <sphere radius="0.019"/>
    </geometry>
  </visual>
</link>

<joint name="joint_fixed_branch_22_cylinder_branch_22" type="fixed">
  <origin rpy="0 0 0" xyz="-0.19 0 0"/>
  <parent link="branch_22_cylinder"/>
  <child link="branch_22"/>
</joint>

<!--############################################################################
branch_23
##############################################################################-->
 <link name="branch_23_cylinder">
  <inertial>
    <mass value="1"/>
    <inertia ixx="0.0019749999999999998" ixy="0" ixz="0" iyy="0.0019749999999999998" iyz="0" izz="0.0001"/>
  </inertial>
  <visual>
    <origin rpy="0 1.57 0" xyz="-0.095 0 0"/>
    <geometry>
      <cylinder length="0.15" radius="0.02"/>
    </geometry>
  </visual>
  <collision>
    <origin rpy="0 1.57 0" xyz="-0.095 0 0"/>
    <geometry>
      <cylinder length="0.15" radius="0.02"/>
    </geometry>
  </collision>
 </link>

<joint name="joint_revolute_branch_22_branch_23_cylinder_Z" type="revolute">
  <origin rpy="0 0 0" xyz="0 0 0"/>
  <parent link="branch_22"/>
  <child link="branch_23_cylinder"/>
  <axis xyz="0 1.0 -6.123233995736766e-17"/>
  <dynamics damping="0.01" friction="0.5"/>
  <limit lower="-1.5707963267948966" upper="1.5707963267948966" effort="0.01" velocity="100"/>
</joint>

<link name="branch_23">
  <inertial>
   <mass value="1"/>
   <inertia ixx="0.00014439999999999999" ixy="0" ixz="0" iyy="0.00014439999999999999" iyz="0" izz="0.00014439999999999999"/>
  </inertial>
  <collision>
    <origin rpy="0 0 0" xyz="0 0 0"/>
    <geometry>
      <sphere radius="0.019"/>
    </geometry>
  </collision>
  <visual>
    <origin rpy="0 0 0" xyz="0 0 0"/>
    <geometry>
      <sphere radius="0.019"/>
    </geometry>
  </visual>
</link>

<joint name="joint_fixed_branch_23_cylinder_branch_23" type="fixed">
  <origin rpy="0 0 0" xyz="-0.19 0 0"/>
  <parent link="branch_23_cylinder"/>
  <child link="branch_23"/>
</joint>

<!--############################################################################
branch_24
##############################################################################-->
 <link name="branch_24_cylinder">
  <inertial>
    <mass value="1"/>
    <inertia ixx="0.0019749999999999998" ixy="0" ixz="0" iyy="0.0019749999999999998" iyz="0" izz="0.0001"/>
  </inertial>
  <visual>
    <origin rpy="0 1.57 0" xyz="-0.095 0 0"/>
    <geometry>
      <cylinder length="0.15" radius="0.02"/>
    </geometry>
  </visual>
  <collision>
    <origin rpy="0 1.57 0" xyz="-0.095 0 0"/>
    <geometry>
      <cylinder length="0.15" radius="0.02"/>
    </geometry>
  </collision>
 </link>

<joint name="joint_revolute_branch_23_branch_24_cylinder_Z" type="revolute">
  <origin rpy="0 0 0" xyz="0 0 0"/>
  <parent link="branch_23"/>
  <child link="branch_24_cylinder"/>
  <axis xyz="0 1.0 -6.123233995736766e-17"/>
  <dynamics damping="0.01" friction="0.5"/>
  <limit lower="-1.5707963267948966" upper="1.5707963267948966" effort="0.01" velocity="100"/>
</joint>

<link name="branch_24">
  <inertial>
   <mass value="1"/>
   <inertia ixx="0.00014439999999999999" ixy="0" ixz="0" iyy="0.00014439999999999999" iyz="0" izz="0.00014439999999999999"/>
  </inertial>
  <collision>
    <origin rpy="0 0 0" xyz="0 0 0"/>
    <geometry>
      <sphere radius="0.019"/>
    </geometry>
  </collision>
  <visual>
    <origin rpy="0 0 0" xyz="0 0 0"/>
    <geometry>
      <sphere radius="0.019"/>
    </geometry>
  </visual>
</link>

<joint name="joint_fixed_branch_24_cylinder_branch_24" type="fixed">
  <origin rpy="0 0 0" xyz="-0.19 0 0"/>
  <parent link="branch_24_cylinder"/>
  <child link="branch_24"/>
</joint>

<!--############################################################################
branch_25
##############################################################################-->
 <link name="branch_25_cylinder">
  <inertial>
    <mass value="1"/>
    <inertia ixx="0.0019749999999999998" ixy="0" ixz="0" iyy="0.0019749999999999998" iyz="0" izz="0.0001"/>
  </inertial>
  <visual>
    <origin rpy="0 1.57 0" xyz="-0.095 0 0"/>
    <geometry>
      <cylinder length="0.15" radius="0.02"/>
    </geometry>
  </visual>
  <collision>
    <origin rpy="0 1.57 0" xyz="-0.095 0 0"/>
    <geometry>
      <cylinder length="0.15" radius="0.02"/>
    </geometry>
  </collision>
 </link>

<joint name="joint_revolute_branch_24_branch_25_cylinder_Z" type="revolute">
  <origin rpy="0 0 0" xyz="0 0 0"/>
  <parent link="branch_24"/>
  <child link="branch_25_cylinder"/>
  <axis xyz="0 1.0 -6.123233995736766e-17"/>
  <dynamics damping="0.01" friction="0.5"/>
  <limit lower="-1.5707963267948966" upper="1.5707963267948966" effort="0.01" velocity="100"/>
</joint>

<link name="branch_25">
  <inertial>
   <mass value="1"/>
   <inertia ixx="0.00014439999999999999" ixy="0" ixz="0" iyy="0.00014439999999999999" iyz="0" izz="0.00014439999999999999"/>
  </inertial>
  <collision>
    <origin rpy="0 0 0" xyz="0 0 0"/>
    <geometry>
      <sphere radius="0.019"/>
    </geometry>
  </collision>
  <visual>
    <origin rpy="0 0 0" xyz="0 0 0"/>
    <geometry>
      <sphere radius="0.019"/>
    </geometry>
  </visual>
</link>

<joint name="joint_fixed_branch_25_cylinder_branch_25" type="fixed">
  <origin rpy="0 0 0" xyz="-0.19 0 0"/>
  <parent link="branch_25_cylinder"/>
  <child link="branch_25"/>
</joint>

<!--############################################################################
branch_26
##############################################################################-->
 <link name="branch_26_cylinder">
  <inertial>
    <mass value="1"/>
    <inertia ixx="0.0019749999999999998" ixy="0" ixz="0" iyy="0.0019749999999999998" iyz="0" izz="0.0001"/>
  </inertial>
  <visual>
    <origin rpy="0 1.57 0" xyz="-0.095 0 0"/>
    <geometry>
      <cylinder length="0.15" radius="0.02"/>
    </geometry>
  </visual>
  <collision>
    <origin rpy="0 1.57 0" xyz="-0.095 0 0"/>
    <geometry>
      <cylinder length="0.15" radius="0.02"/>
    </geometry>
  </collision>
 </link>

<joint name="joint_revolute_branch_25_branch_26_cylinder_Z" type="revolute">
  <origin rpy="0 0 0" xyz="0 0 0"/>
  <parent link="branch_25"/>
  <child link="branch_26_cylinder"/>
  <axis xyz="0 1.0 -6.123233995736766e-17"/>
  <dynamics damping="0.01" friction="0.5"/>
  <limit lower="-1.5707963267948966" upper="1.5707963267948966" effort="0.01" velocity="100"/>
</joint>

<link name="branch_26">
  <inertial>
   <mass value="1"/>
   <inertia ixx="0.00014439999999999999" ixy="0" ixz="0" iyy="0.00014439999999999999" iyz="0" izz="0.00014439999999999999"/>
  </inertial>
  <collision>
    <origin rpy="0 0 0" xyz="0 0 0"/>
    <geometry>
      <sphere radius="0.019"/>
    </geometry>
  </collision>
  <visual>
    <origin rpy="0 0 0" xyz="0 0 0"/>
    <geometry>
      <sphere radius="0.019"/>
    </geometry>
  </visual>
</link>

<joint name="joint_fixed_branch_26_cylinder_branch_26" type="fixed">
  <origin rpy="0 0 0" xyz="-0.19 0 0"/>
  <parent link="branch_26_cylinder"/>
  <child link="branch_26"/>
</joint>

<!--############################################################################
branch_30
##############################################################################-->
 <link name="branch_30_cylinder_stub">
  <inertial>
    <mass value="1"/>
    <inertia ixx="0.0005687499999999999" ixy="0" ixz="0" iyy="0.0005687499999999999" iyz="0" izz="0.0001"/>
  </inertial>
  <visual>
    <origin rpy="0 1.57 0" xyz="-0.0375 0 0"/>
    <geometry>
      <cylinder length="0.075" radius="0.02"/>
    </geometry>
  </visual>
  <collision>
    <origin rpy="0 1.57 0" xyz="-0.0375 0 0"/>
    <geometry>
      <cylinder length="0.075" radius="0.02"/>
    </geometry>
  </collision>
 </link>

<joint name="joint_fixed_head_branch_30_cylinder_stub" type="fixed">
  <origin rpy="0 0 0" xyz="-0.2 -0.04949747468305832 0.049497474683058325"/>
  <parent link="head"/>
  <child link="branch_30_cylinder_stub"/>
</joint>

<link name="branch_30_sphere_stub">
  <inertial>
   <mass value="1"/>
   <inertia ixx="0.00014439999999999999" ixy="0" ixz="0" iyy="0.00014439999999999999" iyz="0" izz="0.00014439999999999999"/>
  </inertial>
  <collision>
    <origin rpy="0 0 0" xyz="-0.095 0 0"/>
    <geometry>
      <sphere radius="0.019"/>
    </geometry>
  </collision>
  <visual>
    <origin rpy="0 0 0" xyz="-0.095 0 0"/>
    <geometry>
      <sphere radius="0.019"/>
    </geometry>
  </visual>
</link>

<joint name="joint_fixed_branch_30_cylinder_stub_branch_30_sphere_stub" type="fixed">
  <origin rpy="0 0 0" xyz="0 0 0"/>
  <parent link="branch_30_cylinder_stub"/>
  <child link="branch_30_sphere_stub"/>
</joint>

 <link name="branch_30_cylinder">
  <inertial>
    <mass value="1"/>
    <inertia ixx="0.0019749999999999998" ixy="0" ixz="0" iyy="0.0019749999999999998" iyz="0" izz="0.0001"/>
  </inertial>
  <visual>
    <origin rpy="0 -0.7853981633974483 1.57" xyz="-0.095 -0.06717514421272201 0.06717514421272201"/>
    <geometry>
      <cylinder length="0.15" radius="0.02"/>
    </geometry>
  </visual>
  <collision>
    <origin rpy="0 -0.7853981633974483 1.57" xyz="-0.095 -0.06717514421272201 0.06717514421272201"/>
    <geometry>
      <cylinder length="0.15" radius="0.02"/>
    </geometry>
  </collision>
 </link>

<joint name="joint_fixed_branch_30_sphere_stub_branch_30_cylinder" type="fixed">
  <origin rpy="0 0 0" xyz="0 0 0"/>
  <parent link="branch_30_sphere_stub"/>
  <child link="branch_30_cylinder"/>
</joint>

<link name="branch_30">
  <inertial>
   <mass value="1"/>
   <inertia ixx="0.00014439999999999999" ixy="0" ixz="0" iyy="0.00014439999999999999" iyz="0" izz="0.00014439999999999999"/>
  </inertial>
  <collision>
    <origin rpy="0 0 0" xyz="0 0 0"/>
    <geometry>
      <sphere radius="0.019"/>
    </geometry>
  </collision>
  <visual>
    <origin rpy="0 0 0" xyz="0 0 0"/>
    <geometry>
      <sphere radius="0.019"/>
    </geometry>
  </visual>
</link>

<joint name="joint_fixed_branch_30_cylinder_branch_30" type="fixed">
  <origin rpy="0 0 0" xyz="-0.095 -0.13435028842544403 0.13435028842544403"/>
  <parent link="branch_30_cylinder"/>
  <child link="branch_30"/>
</joint>

<!--############################################################################
branch_31
##############################################################################-->
 <link name="branch_31_cylinder">
  <inertial>
    <mass value="1"/>
    <inertia ixx="0.0019749999999999998" ixy="0" ixz="0" iyy="0.0019749999999999998" iyz="0" izz="0.0001"/>
  </inertial>
  <visual>
    <origin rpy="0 1.57 0" xyz="-0.095 0 0"/>
    <geometry>
      <cylinder length="0.15" radius="0.02"/>
    </geometry>
  </visual>
  <collision>
    <origin rpy="0 1.57 0" xyz="-0.095 0 0"/>
    <geometry>
      <cylinder length="0.15" radius="0.02"/>
    </geometry>
  </collision>
 </link>

<joint name="joint_revolute_branch_30_branch_31_cylinder_Z" type="revolute">
  <origin rpy="0 0 0" xyz="0 0 0"/>
  <parent link="branch_30"/>
  <child link="branch_31_cylinder"/>
  <axis xyz="0 0.7071067811865476 0.7071067811865475"/>
  <dynamics damping="0.01" friction="0.5"/>
  <limit lower="-1.5707963267948966" upper="1.5707963267948966" effort="0.01" velocity="100"/>
</joint>

<link name="branch_31">
  <inertial>
   <mass value="1"/>
   <inertia ixx="0.00014439999999999999" ixy="0" ixz="0" iyy="0.00014439999999999999" iyz="0" izz="0.00014439999999999999"/>
  </inertial>
  <collision>
    <origin rpy="0 0 0" xyz="0 0 0"/>
    <geometry>
      <sphere radius="0.019"/>
    </geometry>
  </collision>
  <visual>
    <origin rpy="0 0 0" xyz="0 0 0"/>
    <geometry>
      <sphere radius="0.019"/>
    </geometry>
  </visual>
</link>

<joint name="joint_fixed_branch_31_cylinder_branch_31" type="fixed">
  <origin rpy="0 0 0" xyz="-0.19 0 0"/>
  <parent link="branch_31_cylinder"/>
  <child link="branch_31"/>
</joint>

<!--############################################################################
branch_32
##############################################################################-->
 <link name="branch_32_cylinder">
  <inertial>
    <mass value="1"/>
    <inertia ixx="0.0019749999999999998" ixy="0" ixz="0" iyy="0.0019749999999999998" iyz="0" izz="0.0001"/>
  </inertial>
  <visual>
    <origin rpy="0 1.57 0" xyz="-0.095 0 0"/>
    <geometry>
      <cylinder length="0.15" radius="0.02"/>
    </geometry>
  </visual>
  <collision>
    <origin rpy="0 1.57 0" xyz="-0.095 0 0"/>
    <geometry>
      <cylinder length="0.15" radius="0.02"/>
    </geometry>
  </collision>
 </link>

<joint name="joint_revolute_branch_31_branch_32_cylinder_Z" type="revolute">
  <origin rpy="0 0 0" xyz="0 0 0"/>
  <parent link="branch_31"/>
  <child link="branch_32_cylinder"/>
  <axis xyz="0 0.7071067811865476 0.7071067811865475"/>
  <dynamics damping="0.01" friction="0.5"/>
  <limit lower="-1.5707963267948966" upper="1.5707963267948966" effort="0.01" velocity="100"/>
</joint>

<link name="branch_32">
  <inertial>
   <mass value="1"/>
   <inertia ixx="0.00014439999999999999" ixy="0" ixz="0" iyy="0.00014439999999999999" iyz="0" izz="0.00014439999999999999"/>
  </inertial>
  <collision>
    <origin rpy="0 0 0" xyz="0 0 0"/>
    <geometry>
      <sphere radius="0.019"/>
    </geometry>
  </collision>
  <visual>
    <origin rpy="0 0 0" xyz="0 0 0"/>
    <geometry>
      <sphere radius="0.019"/>
    </geometry>
  </visual>
</link>

<joint name="joint_fixed_branch_32_cylinder_branch_32" type="fixed">
  <origin rpy="0 0 0" xyz="-0.19 0 0"/>
  <parent link="branch_32_cylinder"/>
  <child link="branch_32"/>
</joint>

<!--############################################################################
branch_33
##############################################################################-->
 <link name="branch_33_cylinder">
  <inertial>
    <mass value="1"/>
    <inertia ixx="0.0019749999999999998" ixy="0" ixz="0" iyy="0.0019749999999999998" iyz="0" izz="0.0001"/>
  </inertial>
  <visual>
    <origin rpy="0 1.57 0" xyz="-0.095 0 0"/>
    <geometry>
      <cylinder length="0.15" radius="0.02"/>
    </geometry>
  </visual>
  <collision>
    <origin rpy="0 1.57 0" xyz="-0.095 0 0"/>
    <geometry>
      <cylinder length="0.15" radius="0.02"/>
    </geometry>
  </collision>
 </link>

<joint name="joint_revolute_branch_32_branch_33_cylinder_Z" type="revolute">
  <origin rpy="0 0 0" xyz="0 0 0"/>
  <parent link="branch_32"/>
  <child link="branch_33_cylinder"/>
  <axis xyz="0 0.7071067811865476 0.7071067811865475"/>
  <dynamics damping="0.01" friction="0.5"/>
  <limit lower="-1.5707963267948966" upper="1.5707963267948966" effort="0.01" velocity="100"/>
</joint>

<link name="branch_33">
  <inertial>
   <mass value="1"/>
   <inertia ixx="0.00014439999999999999" ixy="0" ixz="0" iyy="0.00014439999999999999" iyz="0" izz="0.00014439999999999999"/>
  </inertial>
  <collision>
    <origin rpy="0 0 0" xyz="0 0 0"/>
    <geometry>
      <sphere radius="0.019"/>
    </geometry>
  </collision>
  <visual>
    <origin rpy="0 0 0" xyz="0 0 0"/>
    <geometry>
      <sphere radius="0.019"/>
    </geometry>
  </visual>
</link>

<joint name="joint_fixed_branch_33_cylinder_branch_33" type="fixed">
  <origin rpy="0 0 0" xyz="-0.19 0 0"/>
  <parent link="branch_33_cylinder"/>
  <child link="branch_33"/>
</joint>

<!--############################################################################
branch_34
##############################################################################-->
 <link name="branch_34_cylinder">
  <inertial>
    <mass value="1"/>
    <inertia ixx="0.0019749999999999998" ixy="0" ixz="0" iyy="0.0019749999999999998" iyz="0" izz="0.0001"/>
  </inertial>
  <visual>
    <origin rpy="0 1.57 0" xyz="-0.095 0 0"/>
    <geometry>
      <cylinder length="0.15" radius="0.02"/>
    </geometry>
  </visual>
  <collision>
    <origin rpy="0 1.57 0" xyz="-0.095 0 0"/>
    <geometry>
      <cylinder length="0.15" radius="0.02"/>
    </geometry>
  </collision>
 </link>

<joint name="joint_revolute_branch_33_branch_34_cylinder_Z" type="revolute">
  <origin rpy="0 0 0" xyz="0 0 0"/>
  <parent link="branch_33"/>
  <child link="branch_34_cylinder"/>
  <axis xyz="0 0.7071067811865476 0.7071067811865475"/>
  <dynamics damping="0.01" friction="0.5"/>
  <limit lower="-1.5707963267948966" upper="1.5707963267948966" effort="0.01" velocity="100"/>
</joint>

<link name="branch_34">
  <inertial>
   <mass value="1"/>
   <inertia ixx="0.00014439999999999999" ixy="0" ixz="0" iyy="0.00014439999999999999" iyz="0" izz="0.00014439999999999999"/>
  </inertial>
  <collision>
    <origin rpy="0 0 0" xyz="0 0 0"/>
    <geometry>
      <sphere radius="0.019"/>
    </geometry>
  </collision>
  <visual>
    <origin rpy="0 0 0" xyz="0 0 0"/>
    <geometry>
      <sphere radius="0.019"/>
    </geometry>
  </visual>
</link>

<joint name="joint_fixed_branch_34_cylinder_branch_34" type="fixed">
  <origin rpy="0 0 0" xyz="-0.19 0 0"/>
  <parent link="branch_34_cylinder"/>
  <child link="branch_34"/>
</joint>

<!--############################################################################
branch_35
##############################################################################-->
 <link name="branch_35_cylinder">
  <inertial>
    <mass value="1"/>
    <inertia ixx="0.0019749999999999998" ixy="0" ixz="0" iyy="0.0019749999999999998" iyz="0" izz="0.0001"/>
  </inertial>
  <visual>
    <origin rpy="0 1.57 0" xyz="-0.095 0 0"/>
    <geometry>
      <cylinder length="0.15" radius="0.02"/>
    </geometry>
  </visual>
  <collision>
    <origin rpy="0 1.57 0" xyz="-0.095 0 0"/>
    <geometry>
      <cylinder length="0.15" radius="0.02"/>
    </geometry>
  </collision>
 </link>

<joint name="joint_revolute_branch_34_branch_35_cylinder_Z" type="revolute">
  <origin rpy="0 0 0" xyz="0 0 0"/>
  <parent link="branch_34"/>
  <child link="branch_35_cylinder"/>
  <axis xyz="0 0.7071067811865476 0.7071067811865475"/>
  <dynamics damping="0.01" friction="0.5"/>
  <limit lower="-1.5707963267948966" upper="1.5707963267948966" effort="0.01" velocity="100"/>
</joint>

<link name="branch_35">
  <inertial>
   <mass value="1"/>
   <inertia ixx="0.00014439999999999999" ixy="0" ixz="0" iyy="0.00014439999999999999" iyz="0" izz="0.00014439999999999999"/>
  </inertial>
  <collision>
    <origin rpy="0 0 0" xyz="0 0 0"/>
    <geometry>
      <sphere radius="0.019"/>
    </geometry>
  </collision>
  <visual>
    <origin rpy="0 0 0" xyz="0 0 0"/>
    <geometry>
      <sphere radius="0.019"/>
    </geometry>
  </visual>
</link>

<joint name="joint_fixed_branch_35_cylinder_branch_35" type="fixed">
  <origin rpy="0 0 0" xyz="-0.19 0 0"/>
  <parent link="branch_35_cylinder"/>
  <child link="branch_35"/>
</joint>

<!--############################################################################
branch_36
##############################################################################-->
 <link name="branch_36_cylinder">
  <inertial>
    <mass value="1"/>
    <inertia ixx="0.0019749999999999998" ixy="0" ixz="0" iyy="0.0019749999999999998" iyz="0" izz="0.0001"/>
  </inertial>
  <visual>
    <origin rpy="0 1.57 0" xyz="-0.095 0 0"/>
    <geometry>
      <cylinder length="0.15" radius="0.02"/>
    </geometry>
  </visual>
  <collision>
    <origin rpy="0 1.57 0" xyz="-0.095 0 0"/>
    <geometry>
      <cylinder length="0.15" radius="0.02"/>
    </geometry>
  </collision>
 </link>

<joint name="joint_revolute_branch_35_branch_36_cylinder_Z" type="revolute">
  <origin rpy="0 0 0" xyz="0 0 0"/>
  <parent link="branch_35"/>
  <child link="branch_36_cylinder"/>
  <axis xyz="0 0.7071067811865476 0.7071067811865475"/>
  <dynamics damping="0.01" friction="0.5"/>
  <limit lower="-1.5707963267948966" upper="1.5707963267948966" effort="0.01" velocity="100"/>
</joint>

<link name="branch_36">
  <inertial>
   <mass value="1"/>
   <inertia ixx="0.00014439999999999999" ixy="0" ixz="0" iyy="0.00014439999999999999" iyz="0" izz="0.00014439999999999999"/>
  </inertial>
  <collision>
    <origin rpy="0 0 0" xyz="0 0 0"/>
    <geometry>
      <sphere radius="0.019"/>
    </geometry>
  </collision>
  <visual>
    <origin rpy="0 0 0" xyz="0 0 0"/>
    <geometry>
      <sphere radius="0.019"/>
    </geometry>
  </visual>
</link>

<joint name="joint_fixed_branch_36_cylinder_branch_36" type="fixed">
  <origin rpy="0 0 0" xyz="-0.19 0 0"/>
  <parent link="branch_36_cylinder"/>
  <child link="branch_36"/>
</joint>

<!--############################################################################
branch_40
##############################################################################-->
 <link name="branch_40_cylinder_stub">
  <inertial>
    <mass value="1"/>
    <inertia ixx="0.0005687499999999999" ixy="0" ixz="0" iyy="0.0005687499999999999" iyz="0" izz="0.0001"/>
  </inertial>
  <visual>
    <origin rpy="0 1.57 0" xyz="-0.0375 0 0"/>
    <geometry>
      <cylinder length="0.075" radius="0.02"/>
    </geometry>
  </visual>
  <collision>
    <origin rpy="0 1.57 0" xyz="-0.0375 0 0"/>
    <geometry>
      <cylinder length="0.075" radius="0.02"/>
    </geometry>
  </collision>
 </link>

<joint name="joint_fixed_head_branch_40_cylinder_stub" type="fixed">
  <origin rpy="0 0 0" xyz="-0.2 -0.06999999999999999 8.572527594031472e-18"/>
  <parent link="head"/>
  <child link="branch_40_cylinder_stub"/>
</joint>

<link name="branch_40_sphere_stub">
  <inertial>
   <mass value="1"/>
   <inertia ixx="0.00014439999999999999" ixy="0" ixz="0" iyy="0.00014439999999999999" iyz="0" izz="0.00014439999999999999"/>
  </inertial>
  <collision>
    <origin rpy="0 0 0" xyz="-0.095 0 0"/>
    <geometry>
      <sphere radius="0.019"/>
    </geometry>
  </collision>
  <visual>
    <origin rpy="0 0 0" xyz="-0.095 0 0"/>
    <geometry>
      <sphere radius="0.019"/>
    </geometry>
  </visual>
</link>

<joint name="joint_fixed_branch_40_cylinder_stub_branch_40_sphere_stub" type="fixed">
  <origin rpy="0 0 0" xyz="0 0 0"/>
  <parent link="branch_40_cylinder_stub"/>
  <child link="branch_40_sphere_stub"/>
</joint>

 <link name="branch_40_cylinder">
  <inertial>
    <mass value="1"/>
    <inertia ixx="0.0019749999999999998" ixy="0" ixz="0" iyy="0.0019749999999999998" iyz="0" izz="0.0001"/>
  </inertial>
  <visual>
    <origin rpy="0 -1.5707963267948966 1.57" xyz="-0.095 -0.095 1.1634144591899856e-17"/>
    <geometry>
      <cylinder length="0.15" radius="0.02"/>
    </geometry>
  </visual>
  <collision>
    <origin rpy="0 -1.5707963267948966 1.57" xyz="-0.095 -0.095 1.1634144591899856e-17"/>
    <geometry>
      <cylinder length="0.15" radius="0.02"/>
    </geometry>
  </collision>
 </link>

<joint name="joint_fixed_branch_40_sphere_stub_branch_40_cylinder" type="fixed">
  <origin rpy="0 0 0" xyz="0 0 0"/>
  <parent link="branch_40_sphere_stub"/>
  <child link="branch_40_cylinder"/>
</joint>

<link name="branch_40">
  <inertial>
   <mass value="1"/>
   <inertia ixx="0.00014439999999999999" ixy="0" ixz="0" iyy="0.00014439999999999999" iyz="0" izz="0.00014439999999999999"/>
  </inertial>
  <collision>
    <origin rpy="0 0 0" xyz="0 0 0"/>
    <geometry>
      <sphere radius="0.019"/>
    </geometry>
  </collision>
  <visual>
    <origin rpy="0 0 0" xyz="0 0 0"/>
    <geometry>
      <sphere radius="0.019"/>
    </geometry>
  </visual>
</link>

<joint name="joint_fixed_branch_40_cylinder_branch_40" type="fixed">
  <origin rpy="0 0 0" xyz="-0.095 -0.19 2.3268289183799712e-17"/>
  <parent link="branch_40_cylinder"/>
  <child link="branch_40"/>
</joint>

<!--############################################################################
branch_41
##############################################################################-->
 <link name="branch_41_cylinder">
  <inertial>
    <mass value="1"/>
    <inertia ixx="0.0019749999999999998" ixy="0" ixz="0" iyy="0.0019749999999999998" iyz="0" izz="0.0001"/>
  </inertial>
  <visual>
    <origin rpy="0 1.57 0" xyz="-0.095 0 0"/>
    <geometry>
      <cylinder length="0.15" radius="0.02"/>
    </geometry>
  </visual>
  <collision>
    <origin rpy="0 1.57 0" xyz="-0.095 0 0"/>
    <geometry>
      <cylinder length="0.15" radius="0.02"/>
    </geometry>
  </collision>
 </link>

<joint name="joint_revolute_branch_40_branch_41_cylinder_Z" type="revolute">
  <origin rpy="0 0 0" xyz="0 0 0"/>
  <parent link="branch_40"/>
  <child link="branch_41_cylinder"/>
  <axis xyz="0 1.2246467991473532e-16 1.0"/>
  <dynamics damping="0.01" friction="0.5"/>
  <limit lower="-1.5707963267948966" upper="1.5707963267948966" effort="0.01" velocity="100"/>
</joint>

<link name="branch_41">
  <inertial>
   <mass value="1"/>
   <inertia ixx="0.00014439999999999999" ixy="0" ixz="0" iyy="0.00014439999999999999" iyz="0" izz="0.00014439999999999999"/>
  </inertial>
  <collision>
    <origin rpy="0 0 0" xyz="0 0 0"/>
    <geometry>
      <sphere radius="0.019"/>
    </geometry>
  </collision>
  <visual>
    <origin rpy="0 0 0" xyz="0 0 0"/>
    <geometry>
      <sphere radius="0.019"/>
    </geometry>
  </visual>
</link>

<joint name="joint_fixed_branch_41_cylinder_branch_41" type="fixed">
  <origin rpy="0 0 0" xyz="-0.19 0 0"/>
  <parent link="branch_41_cylinder"/>
  <child link="branch_41"/>
</joint>

<!--############################################################################
branch_42
##############################################################################-->
 <link name="branch_42_cylinder">
  <inertial>
    <mass value="1"/>
    <inertia ixx="0.0019749999999999998" ixy="0" ixz="0" iyy="0.0019749999999999998" iyz="0" izz="0.0001"/>
  </inertial>
  <visual>
    <origin rpy="0 1.57 0" xyz="-0.095 0 0"/>
    <geometry>
      <cylinder length="0.15" radius="0.02"/>
    </geometry>
  </visual>
  <collision>
    <origin rpy="0 1.57 0" xyz="-0.095 0 0"/>
    <geometry>
      <cylinder length="0.15" radius="0.02"/>
    </geometry>
  </collision>
 </link>

<joint name="joint_revolute_branch_41_branch_42_cylinder_Z" type="revolute">
  <origin rpy="0 0 0" xyz="0 0 0"/>
  <parent link="branch_41"/>
  <child link="branch_42_cylinder"/>
  <axis xyz="0 1.2246467991473532e-16 1.0"/>
  <dynamics damping="0.01" friction="0.5"/>
  <limit lower="-1.5707963267948966" upper="1.5707963267948966" effort="0.01" velocity="100"/>
</joint>

<link name="branch_42">
  <inertial>
   <mass value="1"/>
   <inertia ixx="0.00014439999999999999" ixy="0" ixz="0" iyy="0.00014439999999999999" iyz="0" izz="0.00014439999999999999"/>
  </inertial>
  <collision>
    <origin rpy="0 0 0" xyz="0 0 0"/>
    <geometry>
      <sphere radius="0.019"/>
    </geometry>
  </collision>
  <visual>
    <origin rpy="0 0 0" xyz="0 0 0"/>
    <geometry>
      <sphere radius="0.019"/>
    </geometry>
  </visual>
</link>

<joint name="joint_fixed_branch_42_cylinder_branch_42" type="fixed">
  <origin rpy="0 0 0" xyz="-0.19 0 0"/>
  <parent link="branch_42_cylinder"/>
  <child link="branch_42"/>
</joint>

<!--############################################################################
branch_43
##############################################################################-->
 <link name="branch_43_cylinder">
  <inertial>
    <mass value="1"/>
    <inertia ixx="0.0019749999999999998" ixy="0" ixz="0" iyy="0.0019749999999999998" iyz="0" izz="0.0001"/>
  </inertial>
  <visual>
    <origin rpy="0 1.57 0" xyz="-0.095 0 0"/>
    <geometry>
      <cylinder length="0.15" radius="0.02"/>
    </geometry>
  </visual>
  <collision>
    <origin rpy="0 1.57 0" xyz="-0.095 0 0"/>
    <geometry>
      <cylinder length="0.15" radius="0.02"/>
    </geometry>
  </collision>
 </link>

<joint name="joint_revolute_branch_42_branch_43_cylinder_Z" type="revolute">
  <origin rpy="0 0 0" xyz="0 0 0"/>
  <parent link="branch_42"/>
  <child link="branch_43_cylinder"/>
  <axis xyz="0 1.2246467991473532e-16 1.0"/>
  <dynamics damping="0.01" friction="0.5"/>
  <limit lower="-1.5707963267948966" upper="1.5707963267948966" effort="0.01" velocity="100"/>
</joint>

<link name="branch_43">
  <inertial>
   <mass value="1"/>
   <inertia ixx="0.00014439999999999999" ixy="0" ixz="0" iyy="0.00014439999999999999" iyz="0" izz="0.00014439999999999999"/>
  </inertial>
  <collision>
    <origin rpy="0 0 0" xyz="0 0 0"/>
    <geometry>
      <sphere radius="0.019"/>
    </geometry>
  </collision>
  <visual>
    <origin rpy="0 0 0" xyz="0 0 0"/>
    <geometry>
      <sphere radius="0.019"/>
    </geometry>
  </visual>
</link>

<joint name="joint_fixed_branch_43_cylinder_branch_43" type="fixed">
  <origin rpy="0 0 0" xyz="-0.19 0 0"/>
  <parent link="branch_43_cylinder"/>
  <child link="branch_43"/>
</joint>

<!--############################################################################
branch_44
##############################################################################-->
 <link name="branch_44_cylinder">
  <inertial>
    <mass value="1"/>
    <inertia ixx="0.0019749999999999998" ixy="0" ixz="0" iyy="0.0019749999999999998" iyz="0" izz="0.0001"/>
  </inertial>
  <visual>
    <origin rpy="0 1.57 0" xyz="-0.095 0 0"/>
    <geometry>
      <cylinder length="0.15" radius="0.02"/>
    </geometry>
  </visual>
  <collision>
    <origin rpy="0 1.57 0" xyz="-0.095 0 0"/>
    <geometry>
      <cylinder length="0.15" radius="0.02"/>
    </geometry>
  </collision>
 </link>

<joint name="joint_revolute_branch_43_branch_44_cylinder_Z" type="revolute">
  <origin rpy="0 0 0" xyz="0 0 0"/>
  <parent link="branch_43"/>
  <child link="branch_44_cylinder"/>
  <axis xyz="0 1.2246467991473532e-16 1.0"/>
  <dynamics damping="0.01" friction="0.5"/>
  <limit lower="-1.5707963267948966" upper="1.5707963267948966" effort="0.01" velocity="100"/>
</joint>

<link name="branch_44">
  <inertial>
   <mass value="1"/>
   <inertia ixx="0.00014439999999999999" ixy="0" ixz="0" iyy="0.00014439999999999999" iyz="0" izz="0.00014439999999999999"/>
  </inertial>
  <collision>
    <origin rpy="0 0 0" xyz="0 0 0"/>
    <geometry>
      <sphere radius="0.019"/>
    </geometry>
  </collision>
  <visual>
    <origin rpy="0 0 0" xyz="0 0 0"/>
    <geometry>
      <sphere radius="0.019"/>
    </geometry>
  </visual>
</link>

<joint name="joint_fixed_branch_44_cylinder_branch_44" type="fixed">
  <origin rpy="0 0 0" xyz="-0.19 0 0"/>
  <parent link="branch_44_cylinder"/>
  <child link="branch_44"/>
</joint>

<!--############################################################################
branch_45
##############################################################################-->
 <link name="branch_45_cylinder">
  <inertial>
    <mass value="1"/>
    <inertia ixx="0.0019749999999999998" ixy="0" ixz="0" iyy="0.0019749999999999998" iyz="0" izz="0.0001"/>
  </inertial>
  <visual>
    <origin rpy="0 1.57 0" xyz="-0.095 0 0"/>
    <geometry>
      <cylinder length="0.15" radius="0.02"/>
    </geometry>
  </visual>
  <collision>
    <origin rpy="0 1.57 0" xyz="-0.095 0 0"/>
    <geometry>
      <cylinder length="0.15" radius="0.02"/>
    </geometry>
  </collision>
 </link>

<joint name="joint_revolute_branch_44_branch_45_cylinder_Z" type="revolute">
  <origin rpy="0 0 0" xyz="0 0 0"/>
  <parent link="branch_44"/>
  <child link="branch_45_cylinder"/>
  <axis xyz="0 1.2246467991473532e-16 1.0"/>
  <dynamics damping="0.01" friction="0.5"/>
  <limit lower="-1.5707963267948966" upper="1.5707963267948966" effort="0.01" velocity="100"/>
</joint>

<link name="branch_45">
  <inertial>
   <mass value="1"/>
   <inertia ixx="0.00014439999999999999" ixy="0" ixz="0" iyy="0.00014439999999999999" iyz="0" izz="0.00014439999999999999"/>
  </inertial>
  <collision>
    <origin rpy="0 0 0" xyz="0 0 0"/>
    <geometry>
      <sphere radius="0.019"/>
    </geometry>
  </collision>
  <visual>
    <origin rpy="0 0 0" xyz="0 0 0"/>
    <geometry>
      <sphere radius="0.019"/>
    </geometry>
  </visual>
</link>

<joint name="joint_fixed_branch_45_cylinder_branch_45" type="fixed">
  <origin rpy="0 0 0" xyz="-0.19 0 0"/>
  <parent link="branch_45_cylinder"/>
  <child link="branch_45"/>
</joint>

<!--############################################################################
branch_46
##############################################################################-->
 <link name="branch_46_cylinder">
  <inertial>
    <mass value="1"/>
    <inertia ixx="0.0019749999999999998" ixy="0" ixz="0" iyy="0.0019749999999999998" iyz="0" izz="0.0001"/>
  </inertial>
  <visual>
    <origin rpy="0 1.57 0" xyz="-0.095 0 0"/>
    <geometry>
      <cylinder length="0.15" radius="0.02"/>
    </geometry>
  </visual>
  <collision>
    <origin rpy="0 1.57 0" xyz="-0.095 0 0"/>
    <geometry>
      <cylinder length="0.15" radius="0.02"/>
    </geometry>
  </collision>
 </link>

<joint name="joint_revolute_branch_45_branch_46_cylinder_Z" type="revolute">
  <origin rpy="0 0 0" xyz="0 0 0"/>
  <parent link="branch_45"/>
  <child link="branch_46_cylinder"/>
  <axis xyz="0 1.2246467991473532e-16 1.0"/>
  <dynamics damping="0.01" friction="0.5"/>
  <limit lower="-1.5707963267948966" upper="1.5707963267948966" effort="0.01" velocity="100"/>
</joint>

<link name="branch_46">
  <inertial>
   <mass value="1"/>
   <inertia ixx="0.00014439999999999999" ixy="0" ixz="0" iyy="0.00014439999999999999" iyz="0" izz="0.00014439999999999999"/>
  </inertial>
  <collision>
    <origin rpy="0 0 0" xyz="0 0 0"/>
    <geometry>
      <sphere radius="0.019"/>
    </geometry>
  </collision>
  <visual>
    <origin rpy="0 0 0" xyz="0 0 0"/>
    <geometry>
      <sphere radius="0.019"/>
    </geometry>
  </visual>
</link>

<joint name="joint_fixed_branch_46_cylinder_branch_46" type="fixed">
  <origin rpy="0 0 0" xyz="-0.19 0 0"/>
  <parent link="branch_46_cylinder"/>
  <child link="branch_46"/>
</joint>

<!--############################################################################
branch_50
##############################################################################-->
 <link name="branch_50_cylinder_stub">
  <inertial>
    <mass value="1"/>
    <inertia ixx="0.0005687499999999999" ixy="0" ixz="0" iyy="0.0005687499999999999" iyz="0" izz="0.0001"/>
  </inertial>
  <visual>
    <origin rpy="0 1.57 0" xyz="-0.0375 0 0"/>
    <geometry>
      <cylinder length="0.075" radius="0.02"/>
    </geometry>
  </visual>
  <collision>
    <origin rpy="0 1.57 0" xyz="-0.0375 0 0"/>
    <geometry>
      <cylinder length="0.075" radius="0.02"/>
    </geometry>
  </collision>
 </link>

<joint name="joint_fixed_head_branch_50_cylinder_stub" type="fixed">
  <origin rpy="0 0 0" xyz="-0.2 -0.04949747468305833 -0.04949747468305832"/>
  <parent link="head"/>
  <child link="branch_50_cylinder_stub"/>
</joint>

<link name="branch_50_sphere_stub">
  <inertial>
   <mass value="1"/>
   <inertia ixx="0.00014439999999999999" ixy="0" ixz="0" iyy="0.00014439999999999999" iyz="0" izz="0.00014439999999999999"/>
  </inertial>
  <collision>
    <origin rpy="0 0 0" xyz="-0.095 0 0"/>
    <geometry>
      <sphere radius="0.019"/>
    </geometry>
  </collision>
  <visual>
    <origin rpy="0 0 0" xyz="-0.095 0 0"/>
    <geometry>
      <sphere radius="0.019"/>
    </geometry>
  </visual>
</link>

<joint name="joint_fixed_branch_50_cylinder_stub_branch_50_sphere_stub" type="fixed">
  <origin rpy="0 0 0" xyz="0 0 0"/>
  <parent link="branch_50_cylinder_stub"/>
  <child link="branch_50_sphere_stub"/>
</joint>

 <link name="branch_50_cylinder">
  <inertial>
    <mass value="1"/>
    <inertia ixx="0.0019749999999999998" ixy="0" ixz="0" iyy="0.0019749999999999998" iyz="0" izz="0.0001"/>
  </inertial>
  <visual>
    <origin rpy="0 -2.356194490192345 1.57" xyz="-0.095 -0.06717514421272203 -0.06717514421272201"/>
    <geometry>
      <cylinder length="0.15" radius="0.02"/>
    </geometry>
  </visual>
  <collision>
    <origin rpy="0 -2.356194490192345 1.57" xyz="-0.095 -0.06717514421272203 -0.06717514421272201"/>
    <geometry>
      <cylinder length="0.15" radius="0.02"/>
    </geometry>
  </collision>
 </link>

<joint name="joint_fixed_branch_50_sphere_stub_branch_50_cylinder" type="fixed">
  <origin rpy="0 0 0" xyz="0 0 0"/>
  <parent link="branch_50_sphere_stub"/>
  <child link="branch_50_cylinder"/>
</joint>

<link name="branch_50">
  <inertial>
   <mass value="1"/>
   <inertia ixx="0.00014439999999999999" ixy="0" ixz="0" iyy="0.00014439999999999999" iyz="0" izz="0.00014439999999999999"/>
  </inertial>
  <collision>
    <origin rpy="0 0 0" xyz="0 0 0"/>
    <geometry>
      <sphere radius="0.019"/>
    </geometry>
  </collision>
  <visual>
    <origin rpy="0 0 0" xyz="0 0 0"/>
    <geometry>
      <sphere radius="0.019"/>
    </geometry>
  </visual>
</link>

<joint name="joint_fixed_branch_50_cylinder_branch_50" type="fixed">
  <origin rpy="0 0 0" xyz="-0.095 -0.13435028842544405 -0.13435028842544403"/>
  <parent link="branch_50_cylinder"/>
  <child link="branch_50"/>
</joint>

<!--############################################################################
branch_51
##############################################################################-->
 <link name="branch_51_cylinder">
  <inertial>
    <mass value="1"/>
    <inertia ixx="0.0019749999999999998" ixy="0" ixz="0" iyy="0.0019749999999999998" iyz="0" izz="0.0001"/>
  </inertial>
  <visual>
    <origin rpy="0 1.57 0" xyz="-0.095 0 0"/>
    <geometry>
      <cylinder length="0.15" radius="0.02"/>
    </geometry>
  </visual>
  <collision>
    <origin rpy="0 1.57 0" xyz="-0.095 0 0"/>
    <geometry>
      <cylinder length="0.15" radius="0.02"/>
    </geometry>
  </collision>
 </link>

<joint name="joint_revolute_branch_50_branch_51_cylinder_Z" type="revolute">
  <origin rpy="0 0 0" xyz="0 0 0"/>
  <parent link="branch_50"/>
  <child link="branch_51_cylinder"/>
  <axis xyz="0 -0.7071067811865475 0.7071067811865477"/>
  <dynamics damping="0.01" friction="0.5"/>
  <limit lower="-1.5707963267948966" upper="1.5707963267948966" effort="0.01" velocity="100"/>
</joint>

<link name="branch_51">
  <inertial>
   <mass value="1"/>
   <inertia ixx="0.00014439999999999999" ixy="0" ixz="0" iyy="0.00014439999999999999" iyz="0" izz="0.00014439999999999999"/>
  </inertial>
  <collision>
    <origin rpy="0 0 0" xyz="0 0 0"/>
    <geometry>
      <sphere radius="0.019"/>
    </geometry>
  </collision>
  <visual>
    <origin rpy="0 0 0" xyz="0 0 0"/>
    <geometry>
      <sphere radius="0.019"/>
    </geometry>
  </visual>
</link>

<joint name="joint_fixed_branch_51_cylinder_branch_51" type="fixed">
  <origin rpy="0 0 0" xyz="-0.19 0 0"/>
  <parent link="branch_51_cylinder"/>
  <child link="branch_51"/>
</joint>

<!--############################################################################
branch_52
##############################################################################-->
 <link name="branch_52_cylinder">
  <inertial>
    <mass value="1"/>
    <inertia ixx="0.0019749999999999998" ixy="0" ixz="0" iyy="0.0019749999999999998" iyz="0" izz="0.0001"/>
  </inertial>
  <visual>
    <origin rpy="0 1.57 0" xyz="-0.095 0 0"/>
    <geometry>
      <cylinder length="0.15" radius="0.02"/>
    </geometry>
  </visual>
  <collision>
    <origin rpy="0 1.57 0" xyz="-0.095 0 0"/>
    <geometry>
      <cylinder length="0.15" radius="0.02"/>
    </geometry>
  </collision>
 </link>

<joint name="joint_revolute_branch_51_branch_52_cylinder_Z" type="revolute">
  <origin rpy="0 0 0" xyz="0 0 0"/>
  <parent link="branch_51"/>
  <child link="branch_52_cylinder"/>
  <axis xyz="0 -0.7071067811865475 0.7071067811865477"/>
  <dynamics damping="0.01" friction="0.5"/>
  <limit lower="-1.5707963267948966" upper="1.5707963267948966" effort="0.01" velocity="100"/>
</joint>

<link name="branch_52">
  <inertial>
   <mass value="1"/>
   <inertia ixx="0.00014439999999999999" ixy="0" ixz="0" iyy="0.00014439999999999999" iyz="0" izz="0.00014439999999999999"/>
  </inertial>
  <collision>
    <origin rpy="0 0 0" xyz="0 0 0"/>
    <geometry>
      <sphere radius="0.019"/>
    </geometry>
  </collision>
  <visual>
    <origin rpy="0 0 0" xyz="0 0 0"/>
    <geometry>
      <sphere radius="0.019"/>
    </geometry>
  </visual>
</link>

<joint name="joint_fixed_branch_52_cylinder_branch_52" type="fixed">
  <origin rpy="0 0 0" xyz="-0.19 0 0"/>
  <parent link="branch_52_cylinder"/>
  <child link="branch_52"/>
</joint>

<!--############################################################################
branch_53
##############################################################################-->
 <link name="branch_53_cylinder">
  <inertial>
    <mass value="1"/>
    <inertia ixx="0.0019749999999999998" ixy="0" ixz="0" iyy="0.0019749999999999998" iyz="0" izz="0.0001"/>
  </inertial>
  <visual>
    <origin rpy="0 1.57 0" xyz="-0.095 0 0"/>
    <geometry>
      <cylinder length="0.15" radius="0.02"/>
    </geometry>
  </visual>
  <collision>
    <origin rpy="0 1.57 0" xyz="-0.095 0 0"/>
    <geometry>
      <cylinder length="0.15" radius="0.02"/>
    </geometry>
  </collision>
 </link>

<joint name="joint_revolute_branch_52_branch_53_cylinder_Z" type="revolute">
  <origin rpy="0 0 0" xyz="0 0 0"/>
  <parent link="branch_52"/>
  <child link="branch_53_cylinder"/>
  <axis xyz="0 -0.7071067811865475 0.7071067811865477"/>
  <dynamics damping="0.01" friction="0.5"/>
  <limit lower="-1.5707963267948966" upper="1.5707963267948966" effort="0.01" velocity="100"/>
</joint>

<link name="branch_53">
  <inertial>
   <mass value="1"/>
   <inertia ixx="0.00014439999999999999" ixy="0" ixz="0" iyy="0.00014439999999999999" iyz="0" izz="0.00014439999999999999"/>
  </inertial>
  <collision>
    <origin rpy="0 0 0" xyz="0 0 0"/>
    <geometry>
      <sphere radius="0.019"/>
    </geometry>
  </collision>
  <visual>
    <origin rpy="0 0 0" xyz="0 0 0"/>
    <geometry>
      <sphere radius="0.019"/>
    </geometry>
  </visual>
</link>

<joint name="joint_fixed_branch_53_cylinder_branch_53" type="fixed">
  <origin rpy="0 0 0" xyz="-0.19 0 0"/>
  <parent link="branch_53_cylinder"/>
  <child link="branch_53"/>
</joint>

<!--############################################################################
branch_54
##############################################################################-->
 <link name="branch_54_cylinder">
  <inertial>
    <mass value="1"/>
    <inertia ixx="0.0019749999999999998" ixy="0" ixz="0" iyy="0.0019749999999999998" iyz="0" izz="0.0001"/>
  </inertial>
  <visual>
    <origin rpy="0 1.57 0" xyz="-0.095 0 0"/>
    <geometry>
      <cylinder length="0.15" radius="0.02"/>
    </geometry>
  </visual>
  <collision>
    <origin rpy="0 1.57 0" xyz="-0.095 0 0"/>
    <geometry>
      <cylinder length="0.15" radius="0.02"/>
    </geometry>
  </collision>
 </link>

<joint name="joint_revolute_branch_53_branch_54_cylinder_Z" type="revolute">
  <origin rpy="0 0 0" xyz="0 0 0"/>
  <parent link="branch_53"/>
  <child link="branch_54_cylinder"/>
  <axis xyz="0 -0.7071067811865475 0.7071067811865477"/>
  <dynamics damping="0.01" friction="0.5"/>
  <limit lower="-1.5707963267948966" upper="1.5707963267948966" effort="0.01" velocity="100"/>
</joint>

<link name="branch_54">
  <inertial>
   <mass value="1"/>
   <inertia ixx="0.00014439999999999999" ixy="0" ixz="0" iyy="0.00014439999999999999" iyz="0" izz="0.00014439999999999999"/>
  </inertial>
  <collision>
    <origin rpy="0 0 0" xyz="0 0 0"/>
    <geometry>
      <sphere radius="0.019"/>
    </geometry>
  </collision>
  <visual>
    <origin rpy="0 0 0" xyz="0 0 0"/>
    <geometry>
      <sphere radius="0.019"/>
    </geometry>
  </visual>
</link>

<joint name="joint_fixed_branch_54_cylinder_branch_54" type="fixed">
  <origin rpy="0 0 0" xyz="-0.19 0 0"/>
  <parent link="branch_54_cylinder"/>
  <child link="branch_54"/>
</joint>

<!--############################################################################
branch_55
##############################################################################-->
 <link name="branch_55_cylinder">
  <inertial>
    <mass value="1"/>
    <inertia ixx="0.0019749999999999998" ixy="0" ixz="0" iyy="0.0019749999999999998" iyz="0" izz="0.0001"/>
  </inertial>
  <visual>
    <origin rpy="0 1.57 0" xyz="-0.095 0 0"/>
    <geometry>
      <cylinder length="0.15" radius="0.02"/>
    </geometry>
  </visual>
  <collision>
    <origin rpy="0 1.57 0" xyz="-0.095 0 0"/>
    <geometry>
      <cylinder length="0.15" radius="0.02"/>
    </geometry>
  </collision>
 </link>

<joint name="joint_revolute_branch_54_branch_55_cylinder_Z" type="revolute">
  <origin rpy="0 0 0" xyz="0 0 0"/>
  <parent link="branch_54"/>
  <child link="branch_55_cylinder"/>
  <axis xyz="0 -0.7071067811865475 0.7071067811865477"/>
  <dynamics damping="0.01" friction="0.5"/>
  <limit lower="-1.5707963267948966" upper="1.5707963267948966" effort="0.01" velocity="100"/>
</joint>

<link name="branch_55">
  <inertial>
   <mass value="1"/>
   <inertia ixx="0.00014439999999999999" ixy="0" ixz="0" iyy="0.00014439999999999999" iyz="0" izz="0.00014439999999999999"/>
  </inertial>
  <collision>
    <origin rpy="0 0 0" xyz="0 0 0"/>
    <geometry>
      <sphere radius="0.019"/>
    </geometry>
  </collision>
  <visual>
    <origin rpy="0 0 0" xyz="0 0 0"/>
    <geometry>
      <sphere radius="0.019"/>
    </geometry>
  </visual>
</link>

<joint name="joint_fixed_branch_55_cylinder_branch_55" type="fixed">
  <origin rpy="0 0 0" xyz="-0.19 0 0"/>
  <parent link="branch_55_cylinder"/>
  <child link="branch_55"/>
</joint>

<!--############################################################################
branch_56
##############################################################################-->
 <link name="branch_56_cylinder">
  <inertial>
    <mass value="1"/>
    <inertia ixx="0.0019749999999999998" ixy="0" ixz="0" iyy="0.0019749999999999998" iyz="0" izz="0.0001"/>
  </inertial>
  <visual>
    <origin rpy="0 1.57 0" xyz="-0.095 0 0"/>
    <geometry>
      <cylinder length="0.15" radius="0.02"/>
    </geometry>
  </visual>
  <collision>
    <origin rpy="0 1.57 0" xyz="-0.095 0 0"/>
    <geometry>
      <cylinder length="0.15" radius="0.02"/>
    </geometry>
  </collision>
 </link>

<joint name="joint_revolute_branch_55_branch_56_cylinder_Z" type="revolute">
  <origin rpy="0 0 0" xyz="0 0 0"/>
  <parent link="branch_55"/>
  <child link="branch_56_cylinder"/>
  <axis xyz="0 -0.7071067811865475 0.7071067811865477"/>
  <dynamics damping="0.01" friction="0.5"/>
  <limit lower="-1.5707963267948966" upper="1.5707963267948966" effort="0.01" velocity="100"/>
</joint>

<link name="branch_56">
  <inertial>
   <mass value="1"/>
   <inertia ixx="0.00014439999999999999" ixy="0" ixz="0" iyy="0.00014439999999999999" iyz="0" izz="0.00014439999999999999"/>
  </inertial>
  <collision>
    <origin rpy="0 0 0" xyz="0 0 0"/>
    <geometry>
      <sphere radius="0.019"/>
    </geometry>
  </collision>
  <visual>
    <origin rpy="0 0 0" xyz="0 0 0"/>
    <geometry>
      <sphere radius="0.019"/>
    </geometry>
  </visual>
</link>

<joint name="joint_fixed_branch_56_cylinder_branch_56" type="fixed">
  <origin rpy="0 0 0" xyz="-0.19 0 0"/>
  <parent link="branch_56_cylinder"/>
  <child link="branch_56"/>
</joint>

<!--############################################################################
branch_60
##############################################################################-->
 <link name="branch_60_cylinder_stub">
  <inertial>
    <mass value="1"/>
    <inertia ixx="0.0005687499999999999" ixy="0" ixz="0" iyy="0.0005687499999999999" iyz="0" izz="0.0001"/>
  </inertial>
  <visual>
    <origin rpy="0 1.57 0" xyz="-0.0375 0 0"/>
    <geometry>
      <cylinder length="0.075" radius="0.02"/>
    </geometry>
  </visual>
  <collision>
    <origin rpy="0 1.57 0" xyz="-0.0375 0 0"/>
    <geometry>
      <cylinder length="0.075" radius="0.02"/>
    </geometry>
  </collision>
 </link>

<joint name="joint_fixed_head_branch_60_cylinder_stub" type="fixed">
  <origin rpy="0 0 0" xyz="-0.2 -1.2858791391047206e-17 -0.06999999999999999"/>
  <parent link="head"/>
  <child link="branch_60_cylinder_stub"/>
</joint>

<link name="branch_60_sphere_stub">
  <inertial>
   <mass value="1"/>
   <inertia ixx="0.00014439999999999999" ixy="0" ixz="0" iyy="0.00014439999999999999" iyz="0" izz="0.00014439999999999999"/>
  </inertial>
  <collision>
    <origin rpy="0 0 0" xyz="-0.095 0 0"/>
    <geometry>
      <sphere radius="0.019"/>
    </geometry>
  </collision>
  <visual>
    <origin rpy="0 0 0" xyz="-0.095 0 0"/>
    <geometry>
      <sphere radius="0.019"/>
    </geometry>
  </visual>
</link>

<joint name="joint_fixed_branch_60_cylinder_stub_branch_60_sphere_stub" type="fixed">
  <origin rpy="0 0 0" xyz="0 0 0"/>
  <parent link="branch_60_cylinder_stub"/>
  <child link="branch_60_sphere_stub"/>
</joint>

 <link name="branch_60_cylinder">
  <inertial>
    <mass value="1"/>
    <inertia ixx="0.0019749999999999998" ixy="0" ixz="0" iyy="0.0019749999999999998" iyz="0" izz="0.0001"/>
  </inertial>
  <visual>
    <origin rpy="0 -3.141592653589793 1.57" xyz="-0.095 -1.745121688784978e-17 -0.095"/>
    <geometry>
      <cylinder length="0.15" radius="0.02"/>
    </geometry>
  </visual>
  <collision>
    <origin rpy="0 -3.141592653589793 1.57" xyz="-0.095 -1.745121688784978e-17 -0.095"/>
    <geometry>
      <cylinder length="0.15" radius="0.02"/>
    </geometry>
  </collision>
 </link>

<joint name="joint_fixed_branch_60_sphere_stub_branch_60_cylinder" type="fixed">
  <origin rpy="0 0 0" xyz="0 0 0"/>
  <parent link="branch_60_sphere_stub"/>
  <child link="branch_60_cylinder"/>
</joint>

<link name="branch_60">
  <inertial>
   <mass value="1"/>
   <inertia ixx="0.00014439999999999999" ixy="0" ixz="0" iyy="0.00014439999999999999" iyz="0" izz="0.00014439999999999999"/>
  </inertial>
  <collision>
    <origin rpy="0 0 0" xyz="0 0 0"/>
    <geometry>
      <sphere radius="0.019"/>
    </geometry>
  </collision>
  <visual>
    <origin rpy="0 0 0" xyz="0 0 0"/>
    <geometry>
      <sphere radius="0.019"/>
    </geometry>
  </visual>
</link>

<joint name="joint_fixed_branch_60_cylinder_branch_60" type="fixed">
  <origin rpy="0 0 0" xyz="-0.095 -3.490243377569956e-17 -0.19"/>
  <parent link="branch_60_cylinder"/>
  <child link="branch_60"/>
</joint>

<!--############################################################################
branch_61
##############################################################################-->
 <link name="branch_61_cylinder">
  <inertial>
    <mass value="1"/>
    <inertia ixx="0.0019749999999999998" ixy="0" ixz="0" iyy="0.0019749999999999998" iyz="0" izz="0.0001"/>
  </inertial>
  <visual>
    <origin rpy="0 1.57 0" xyz="-0.095 0 0"/>
    <geometry>
      <cylinder length="0.15" radius="0.02"/>
    </geometry>
  </visual>
  <collision>
    <origin rpy="0 1.57 0" xyz="-0.095 0 0"/>
    <geometry>
      <cylinder length="0.15" radius="0.02"/>
    </geometry>
  </collision>
 </link>

<joint name="joint_revolute_branch_60_branch_61_cylinder_Z" type="revolute">
  <origin rpy="0 0 0" xyz="0 0 0"/>
  <parent link="branch_60"/>
  <child link="branch_61_cylinder"/>
  <axis xyz="0 -1.0 1.8369701987210297e-16"/>
  <dynamics damping="0.01" friction="0.5"/>
  <limit lower="-1.5707963267948966" upper="1.5707963267948966" effort="0.01" velocity="100"/>
</joint>

<link name="branch_61">
  <inertial>
   <mass value="1"/>
   <inertia ixx="0.00014439999999999999" ixy="0" ixz="0" iyy="0.00014439999999999999" iyz="0" izz="0.00014439999999999999"/>
  </inertial>
  <collision>
    <origin rpy="0 0 0" xyz="0 0 0"/>
    <geometry>
      <sphere radius="0.019"/>
    </geometry>
  </collision>
  <visual>
    <origin rpy="0 0 0" xyz="0 0 0"/>
    <geometry>
      <sphere radius="0.019"/>
    </geometry>
  </visual>
</link>

<joint name="joint_fixed_branch_61_cylinder_branch_61" type="fixed">
  <origin rpy="0 0 0" xyz="-0.19 0 0"/>
  <parent link="branch_61_cylinder"/>
  <child link="branch_61"/>
</joint>

<!--############################################################################
branch_62
##############################################################################-->
 <link name="branch_62_cylinder">
  <inertial>
    <mass value="1"/>
    <inertia ixx="0.0019749999999999998" ixy="0" ixz="0" iyy="0.0019749999999999998" iyz="0" izz="0.0001"/>
  </inertial>
  <visual>
    <origin rpy="0 1.57 0" xyz="-0.095 0 0"/>
    <geometry>
      <cylinder length="0.15" radius="0.02"/>
    </geometry>
  </visual>
  <collision>
    <origin rpy="0 1.57 0" xyz="-0.095 0 0"/>
    <geometry>
      <cylinder length="0.15" radius="0.02"/>
    </geometry>
  </collision>
 </link>

<joint name="joint_revolute_branch_61_branch_62_cylinder_Z" type="revolute">
  <origin rpy="0 0 0" xyz="0 0 0"/>
  <parent link="branch_61"/>
  <child link="branch_62_cylinder"/>
  <axis xyz="0 -1.0 1.8369701987210297e-16"/>
  <dynamics damping="0.01" friction="0.5"/>
  <limit lower="-1.5707963267948966" upper="1.5707963267948966" effort="0.01" velocity="100"/>
</joint>

<link name="branch_62">
  <inertial>
   <mass value="1"/>
   <inertia ixx="0.00014439999999999999" ixy="0" ixz="0" iyy="0.00014439999999999999" iyz="0" izz="0.00014439999999999999"/>
  </inertial>
  <collision>
    <origin rpy="0 0 0" xyz="0 0 0"/>
    <geometry>
      <sphere radius="0.019"/>
    </geometry>
  </collision>
  <visual>
    <origin rpy="0 0 0" xyz="0 0 0"/>
    <geometry>
      <sphere radius="0.019"/>
    </geometry>
  </visual>
</link>

<joint name="joint_fixed_branch_62_cylinder_branch_62" type="fixed">
  <origin rpy="0 0 0" xyz="-0.19 0 0"/>
  <parent link="branch_62_cylinder"/>
  <child link="branch_62"/>
</joint>

<!--############################################################################
branch_63
##############################################################################-->
 <link name="branch_63_cylinder">
  <inertial>
    <mass value="1"/>
    <inertia ixx="0.0019749999999999998" ixy="0" ixz="0" iyy="0.0019749999999999998" iyz="0" izz="0.0001"/>
  </inertial>
  <visual>
    <origin rpy="0 1.57 0" xyz="-0.095 0 0"/>
    <geometry>
      <cylinder length="0.15" radius="0.02"/>
    </geometry>
  </visual>
  <collision>
    <origin rpy="0 1.57 0" xyz="-0.095 0 0"/>
    <geometry>
      <cylinder length="0.15" radius="0.02"/>
    </geometry>
  </collision>
 </link>

<joint name="joint_revolute_branch_62_branch_63_cylinder_Z" type="revolute">
  <origin rpy="0 0 0" xyz="0 0 0"/>
  <parent link="branch_62"/>
  <child link="branch_63_cylinder"/>
  <axis xyz="0 -1.0 1.8369701987210297e-16"/>
  <dynamics damping="0.01" friction="0.5"/>
  <limit lower="-1.5707963267948966" upper="1.5707963267948966" effort="0.01" velocity="100"/>
</joint>

<link name="branch_63">
  <inertial>
   <mass value="1"/>
   <inertia ixx="0.00014439999999999999" ixy="0" ixz="0" iyy="0.00014439999999999999" iyz="0" izz="0.00014439999999999999"/>
  </inertial>
  <collision>
    <origin rpy="0 0 0" xyz="0 0 0"/>
    <geometry>
      <sphere radius="0.019"/>
    </geometry>
  </collision>
  <visual>
    <origin rpy="0 0 0" xyz="0 0 0"/>
    <geometry>
      <sphere radius="0.019"/>
    </geometry>
  </visual>
</link>

<joint name="joint_fixed_branch_63_cylinder_branch_63" type="fixed">
  <origin rpy="0 0 0" xyz="-0.19 0 0"/>
  <parent link="branch_63_cylinder"/>
  <child link="branch_63"/>
</joint>

<!--############################################################################
branch_64
##############################################################################-->
 <link name="branch_64_cylinder">
  <inertial>
    <mass value="1"/>
    <inertia ixx="0.0019749999999999998" ixy="0" ixz="0" iyy="0.0019749999999999998" iyz="0" izz="0.0001"/>
  </inertial>
  <visual>
    <origin rpy="0 1.57 0" xyz="-0.095 0 0"/>
    <geometry>
      <cylinder length="0.15" radius="0.02"/>
    </geometry>
  </visual>
  <collision>
    <origin rpy="0 1.57 0" xyz="-0.095 0 0"/>
    <geometry>
      <cylinder length="0.15" radius="0.02"/>
    </geometry>
  </collision>
 </link>

<joint name="joint_revolute_branch_63_branch_64_cylinder_Z" type="revolute">
  <origin rpy="0 0 0" xyz="0 0 0"/>
  <parent link="branch_63"/>
  <child link="branch_64_cylinder"/>
  <axis xyz="0 -1.0 1.8369701987210297e-16"/>
  <dynamics damping="0.01" friction="0.5"/>
  <limit lower="-1.5707963267948966" upper="1.5707963267948966" effort="0.01" velocity="100"/>
</joint>

<link name="branch_64">
  <inertial>
   <mass value="1"/>
   <inertia ixx="0.00014439999999999999" ixy="0" ixz="0" iyy="0.00014439999999999999" iyz="0" izz="0.00014439999999999999"/>
  </inertial>
  <collision>
    <origin rpy="0 0 0" xyz="0 0 0"/>
    <geometry>
      <sphere radius="0.019"/>
    </geometry>
  </collision>
  <visual>
    <origin rpy="0 0 0" xyz="0 0 0"/>
    <geometry>
      <sphere radius="0.019"/>
    </geometry>
  </visual>
</link>

<joint name="joint_fixed_branch_64_cylinder_branch_64" type="fixed">
  <origin rpy="0 0 0" xyz="-0.19 0 0"/>
  <parent link="branch_64_cylinder"/>
  <child link="branch_64"/>
</joint>

<!--############################################################################
branch_65
##############################################################################-->
 <link name="branch_65_cylinder">
  <inertial>
    <mass value="1"/>
    <inertia ixx="0.0019749999999999998" ixy="0" ixz="0" iyy="0.0019749999999999998" iyz="0" izz="0.0001"/>
  </inertial>
  <visual>
    <origin rpy="0 1.57 0" xyz="-0.095 0 0"/>
    <geometry>
      <cylinder length="0.15" radius="0.02"/>
    </geometry>
  </visual>
  <collision>
    <origin rpy="0 1.57 0" xyz="-0.095 0 0"/>
    <geometry>
      <cylinder length="0.15" radius="0.02"/>
    </geometry>
  </collision>
 </link>

<joint name="joint_revolute_branch_64_branch_65_cylinder_Z" type="revolute">
  <origin rpy="0 0 0" xyz="0 0 0"/>
  <parent link="branch_64"/>
  <child link="branch_65_cylinder"/>
  <axis xyz="0 -1.0 1.8369701987210297e-16"/>
  <dynamics damping="0.01" friction="0.5"/>
  <limit lower="-1.5707963267948966" upper="1.5707963267948966" effort="0.01" velocity="100"/>
</joint>

<link name="branch_65">
  <inertial>
   <mass value="1"/>
   <inertia ixx="0.00014439999999999999" ixy="0" ixz="0" iyy="0.00014439999999999999" iyz="0" izz="0.00014439999999999999"/>
  </inertial>
  <collision>
    <origin rpy="0 0 0" xyz="0 0 0"/>
    <geometry>
      <sphere radius="0.019"/>
    </geometry>
  </collision>
  <visual>
    <origin rpy="0 0 0" xyz="0 0 0"/>
    <geometry>
      <sphere radius="0.019"/>
    </geometry>
  </visual>
</link>

<joint name="joint_fixed_branch_65_cylinder_branch_65" type="fixed">
  <origin rpy="0 0 0" xyz="-0.19 0 0"/>
  <parent link="branch_65_cylinder"/>
  <child link="branch_65"/>
</joint>

<!--############################################################################
branch_66
##############################################################################-->
 <link name="branch_66_cylinder">
  <inertial>
    <mass value="1"/>
    <inertia ixx="0.0019749999999999998" ixy="0" ixz="0" iyy="0.0019749999999999998" iyz="0" izz="0.0001"/>
  </inertial>
  <visual>
    <origin rpy="0 1.57 0" xyz="-0.095 0 0"/>
    <geometry>
      <cylinder length="0.15" radius="0.02"/>
    </geometry>
  </visual>
  <collision>
    <origin rpy="0 1.57 0" xyz="-0.095 0 0"/>
    <geometry>
      <cylinder length="0.15" radius="0.02"/>
    </geometry>
  </collision>
 </link>

<joint name="joint_revolute_branch_65_branch_66_cylinder_Z" type="revolute">
  <origin rpy="0 0 0" xyz="0 0 0"/>
  <parent link="branch_65"/>
  <child link="branch_66_cylinder"/>
  <axis xyz="0 -1.0 1.8369701987210297e-16"/>
  <dynamics damping="0.01" friction="0.5"/>
  <limit lower="-1.5707963267948966" upper="1.5707963267948966" effort="0.01" velocity="100"/>
</joint>

<link name="branch_66">
  <inertial>
   <mass value="1"/>
   <inertia ixx="0.00014439999999999999" ixy="0" ixz="0" iyy="0.00014439999999999999" iyz="0" izz="0.00014439999999999999"/>
  </inertial>
  <collision>
    <origin rpy="0 0 0" xyz="0 0 0"/>
    <geometry>
      <sphere radius="0.019"/>
    </geometry>
  </collision>
  <visual>
    <origin rpy="0 0 0" xyz="0 0 0"/>
    <geometry>
      <sphere radius="0.019"/>
    </geometry>
  </visual>
</link>

<joint name="joint_fixed_branch_66_cylinder_branch_66" type="fixed">
  <origin rpy="0 0 0" xyz="-0.19 0 0"/>
  <parent link="branch_66_cylinder"/>
  <child link="branch_66"/>
</joint>

  <klampt package_root="../../.." default_acc_max="4" >
  </klampt>
</robot>
